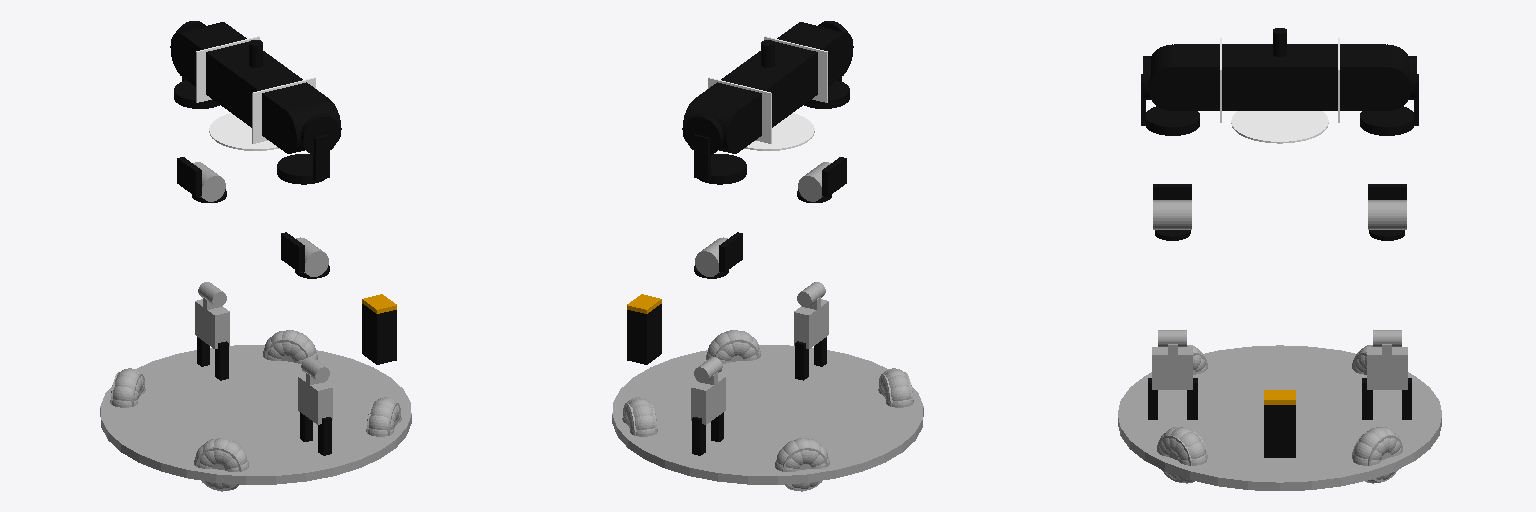
--- Render facts (derived) ---
3 views of the same robot in one strip: view 1: azimuth 30°, elevation 25°; view 2: azimuth 150°, elevation 25°; view 3: azimuth 270°, elevation 25° (orthographic).
Robot: amigo — 113 links, 112 joints (20 revolute, 52 continuous, 1 prismatic, 39 fixed); root link base_link; default pose: every joint at zero.
Visible links, largest first — view 1: base_plate, clavicles, base_laser, shoulder_mount_right, closure_bottom, hand_right, hand_left, upper_arm_top_right, shoulder_link1_right, shoulder_mount_left, elbow_extra_block_left, closure_right (+6 smaller); view 2: base_plate, clavicles, base_laser, shoulder_mount_left, closure_bottom, hand_left, hand_right, upper_arm_top_left, shoulder_link1_left, shoulder_mount_right, elbow_extra_block_right, closure_left (+6 smaller); view 3: base_plate, clavicles, closure_bottom, base_laser, hand_right, hand_left, shoulder_mount_left, shoulder_mount_right, upper_arm_top_right, upper_arm_top_left, elbow_extra_block2_right, elbow_extra_block2_left (+2 smaller).
Boxes of the visible links, x1,y1,x2,y2 form: base_plate: (100,345,411,484); clavicles: (183,24,328,151); base_laser: (362,304,396,364); shoulder_mount_right: (275,99,341,153); closure_bottom: (209,113,279,150); hand_right: (298,375,332,424); hand_left: (195,299,229,348); upper_arm_top_right: (277,154,326,184); shoulder_link1_right: (301,114,339,154); shoulder_mount_left: (170,22,225,78); elbow_extra_block_left: (177,157,201,196); closure_right: (252,77,315,143); base_plate: (612,345,923,484); clavicles: (695,24,840,151); base_laser: (627,304,661,364); shoulder_mount_left: (682,99,749,153); closure_bottom: (744,113,814,150); hand_left: (691,375,725,424); hand_right: (794,299,828,348); upper_arm_top_left: (697,154,746,184); shoulder_link1_left: (684,114,722,154); shoulder_mount_right: (798,22,853,78); elbow_extra_block_right: (822,157,846,196); closure_left: (708,77,771,143); base_plate: (1118,345,1441,490); clavicles: (1174,44,1385,110); closure_bottom: (1231,111,1328,143); base_laser: (1264,405,1295,457); hand_right: (1152,347,1192,389); hand_left: (1367,347,1407,389); shoulder_mount_left: (1364,44,1411,110); shoulder_mount_right: (1148,44,1195,110); upper_arm_top_right: (1146,106,1199,135); upper_arm_top_left: (1360,106,1413,135); elbow_extra_block2_right: (1153,200,1191,229); elbow_extra_block2_left: (1368,200,1406,229).
Bounding box of the posed robot: 0.666 × 0.666 × 0.9615 m (x, y, z).
0 mesh visuals loaded from 9 distinct referenced files (none loaded); not drawn: 13 (reference not matched to a file when rendering).

robot.urdf — amigo:
<?xml version="1.0" ?>
<!-- =================================================================================== -->
<!-- |    This document was autogenerated by xacro from [local-path]/ros/pkgs/tue-ros-pkg/trunk/tue_robot_models/amigo_robot_model/robot.urdf.xacro | -->
<!-- |    EDITING THIS FILE BY HAND IS NOT RECOMMENDED                                 | -->
<!-- =================================================================================== -->
<robot name="amigo" xmlns:controller="http://playerstage.sourceforge.net/gazebo/xmlschema/#controller" xmlns:interface="http://playerstage.sourceforge.net/gazebo/xmlschema/#interface" xmlns:sensor="http://playerstage.sourceforge.net/gazebo/xmlschema/#sensor" xmlns:xacro="http://ros.org/wiki/xacro">
  <!--get plugins -->
  <gazebo>
    <controller:gazebo_ros_time name="gazebo_ros_time" plugin="libgazebo_ros_time.so">
      <alwaysOn>true</alwaysOn>
      <updateRate>1000.0</updateRate>
      <interface:audio name="dummy_gazebo_ros_time_iface_should_not_be_here"/>
    </controller:gazebo_ros_time>
    <controller:gazebo_ros_controller_manager name="gazebo_ros_controller_manager" plugin="libgazebo_ros_controller_manager.so">
      <alwaysOn>true</alwaysOn>
      <updateRate>1000.0</updateRate>
      <interface:audio name="gazebo_ros_controller_manager_dummy_iface"/>
    </controller:gazebo_ros_controller_manager>
    <controller:gazebo_ros_imu name="imu_controller" plugin="libgazebo_ros_imu.so">
      <alwaysOn>true</alwaysOn>
      <updateRate>1000.0</updateRate>
      <bodyName>base_link</bodyName>
      <topicName>body_pose_ground_truth</topicName>
      <xyzOffsets>0.0 0.0 0</xyzOffsets>
      <rpyOffsets>0 0 0</rpyOffsets>
      <interface:position name="imu_position_iface"/>
    </controller:gazebo_ros_imu>
    <controller:gazebo_ros_p3d name="base_controller" plugin="libgazebo_ros_p3d.so">
      <alwaysOn>true</alwaysOn>
      <updateRate>100.0</updateRate>
      <bodyName>base_link</bodyName>
      <topicName>base_pose_ground_truth</topicName>
      <gaussianNoise>0.01</gaussianNoise>
      <frameName>map</frameName>
      <xyzOffsets>25.7 25.7 0</xyzOffsets>
      <!-- initialize odometry for fake localization-->
      <rpyOffsets>0 0 0</rpyOffsets>
      <interface:position name="p3d_base_position"/>
    </controller:gazebo_ros_p3d>
  </gazebo>
  <gazebo reference="base_laser">
    <sensor:ray name="base_ray_sensor">
      <origin>0.0 0.0 0.0</origin>
      <rayCount>683</rayCount>
      <rangeCount>683</rangeCount>
      <laserCount>1</laserCount>
      <displayRays>false</displayRays>
      <minAngle>-135</minAngle>
      <maxAngle> 135</maxAngle>
      <minRange>0.05</minRange>
      <maxRange>10.0</maxRange>
      <resRange>0.01</resRange>
      <updateRate>100.0</updateRate>
      <controller:gazebo_ros_laser name="base_ros_ray_sensor_controller" plugin="libgazebo_ros_laser.so">
        <gaussianNoise>0.005</gaussianNoise>
        <alwaysOn>true</alwaysOn>
        <updateRate>15.0</updateRate>
        <topicName>base_scan</topicName>
        <frameName>/base_laser</frameName>
        <interface:laser name="base_ros_ray_sensor_iface"/>
      </controller:gazebo_ros_laser>
    </sensor:ray>
  </gazebo>
  <gazebo reference="top_laser">
    <sensor:ray name="top_ray_sensor">
      <origin>0.0 0.0 0.0</origin>
      <rayCount>683</rayCount>
      <rangeCount>683</rangeCount>
      <laserCount>1</laserCount>
      <displayRays>false</displayRays>
      <minAngle>-135</minAngle>
      <maxAngle> 135</maxAngle>
      <minRange>0.05</minRange>
      <maxRange>10.0</maxRange>
      <resRange>0.01</resRange>
      <updateRate>100.0</updateRate>
      <controller:gazebo_ros_laser name="top_ros_ray_sensor_controller" plugin="libgazebo_ros_laser.so">
        <gaussianNoise>0.005</gaussianNoise>
        <alwaysOn>true</alwaysOn>
        <updateRate>15.0</updateRate>
        <topicName>top_scan</topicName>
        <frameName>/top_laser</frameName>
        <interface:laser name="top_ros_ray_sensor_iface"/>
      </controller:gazebo_ros_laser>
    </sensor:ray>
  </gazebo>
  <gazebo reference="openni_camera">
    <sensor:camera name="openni_camera">
      <imageFormat>R8G8B8</imageFormat>
      <imageSize>640 480</imageSize>
      <hfov>60</hfov>
      <nearClip>0.05</nearClip>
      <farClip>3</farClip>
      <updateRate>20</updateRate>
      <baseline>0.1</baseline>
      <controller:gazebo_ros_openni_kinect name="kinect_camera_controller" plugin="libgazebo_ros_openni_kinect.so">
        <alwaysOn>true</alwaysOn>
        <updateRate>20</updateRate>
        <imageTopicName>/camera/rgb/image_raw</imageTopicName>
        <pointCloudTopicName>/camera/rgb/points</pointCloudTopicName>
        <cameraInfoTopicName>/camera/rgb/camera_info</cameraInfoTopicName>
        <frameName>/openni_depth_optical_frame</frameName>
        <!--<distortion_k1>0.00000001</distortion_k1>
        <distortion_k2>0.00000001</distortion_k2>
        <distortion_k3>0.00000001</distortion_k3>
        <distortion_t1>0.00000001</distortion_t1>
        <distortion_t2>0.00000001</distortion_t2>-->
      </controller:gazebo_ros_openni_kinect>
    </sensor:camera>
  </gazebo>
  <!--get link & joint definitions -->
  <!--get custom materials -->
  <material name="Blue">
    <color rgba="0.0 0.0 0.8 1.0"/>
  </material>
  <material name="Green">
    <color rgba="0.0 0.8 0.0 1.0"/>
  </material>
  <material name="Grey">
    <color rgba="0.7 0.7 0.7 1.0"/>
  </material>
  <material name="Grey2">
    <color rgba="0.9 0.9 0.9 1.0"/>
  </material>
  <material name="Red">
    <color rgba="0.8 0.0 0.0 1.0"/>
  </material>
  <material name="White">
    <color rgba="1.0 1.0 1.0 1.0"/>
  </material>
  <material name="Black">
    <color rgba="0.1 0.1 0.1 1.0"/>
  </material>
  <material name="LightGrey">
    <color rgba="0.6 0.6 0.6 1.0"/>
  </material>
  <material name="bottomcovers">
    <texture filename="package://amigo_robot_model/Media/materials/textures/bottomcovers/finalreduced.jpg"/>
  </material>
  <material name="white">
    <texture filename="package://amigo_robot_model/Media/materials/textures/white/white.jpg"/>
  </material>
  <material name="logo">
    <texture filename="package://amigo_robot_model/Media/materials/textures/logo/tue.jpg"/>
  </material>
  <material name="aluminum">
    <texture filename="package://amigo_robot_model/Media/materials/textures/aluminum/aluminium_0001_c.jpg"/>
  </material>
  <material name="orange">
    <texture filename="package://amigo_robot_model/Media/materials/textures/orange/orange.jpg"/>
  </material>
  <!--========BUILD BODY======-->
  <link name="base">
    <inertial>
      <origin rpy="0 0 0" xyz="0.0 0.0 0.3275"/>
      <mass value="20"/>
      <inertia ixx="2.63" ixy="0" ixz="0" iyy="2.63" iyz="0" izz="2.4"/>
    </inertial>
    <visual>
      <origin rpy="0 0 -1.5708" xyz="0.0 0.0 0.23"/>
      <geometry>
        <mesh filename="package://amigo_robot_model/body/bottomcovers.dae" scale="0.001 0.001 0.001"/>
      </geometry>
      <material name="bottomcovers"/>
    </visual>
    <collision>
      <origin rpy="0 0 -1.5708" xyz="0.0 0.0 0.33"/>
      <geometry>
        <box size="0.275 0.275 0.6"/>
      </geometry>
    </collision>
  </link>
  <gazebo reference="base">
    <material>amigo_robot_model/bottomcovers</material>
    <turnGravityOff>false</turnGravityOff>
  </gazebo>
  <link name="torso_slider">
    <inertial>
      <origin rpy="0 0 0" xyz="0 0 0"/>
      <mass value="0.1"/>
      <inertia ixx="0.01" ixy="0" ixz="0" iyy="0.01" iyz="0" izz="0.01"/>
    </inertial>
    <visual>
      <origin rpy="0 1.5708 0" xyz="-0.35 0.0 0.0"/>
      <geometry>
        <mesh filename="package://amigo_robot_model/body/torsoslidertextured.dae" scale="0.01 0.01 0.01"/>
      </geometry>
      <material name="aluminum"/>
    </visual>
    <collision>
      <origin rpy="0 1.5708 0" xyz="-0.35 0.0 0.0"/>
      <geometry>
        <mesh filename="package://amigo_robot_model/body/torsoslidertextured.dae" scale="0.01 0.01 0.01"/>
      </geometry>
    </collision>
  </link>
  <gazebo reference="torso_slider">
    <material>amigo_robot_model/aluminum</material>
    <turnGravityOff>false</turnGravityOff>
  </gazebo>
  <link name="base_link">
    <inertial>
      <origin rpy="0 0 0" xyz="0.0 0.0 0.0"/>
      <mass value="0"/>
      <inertia ixx="0" ixy="0" ixz="0" iyy="0" iyz="0" izz="0"/>
    </inertial>
    <visual>
      <origin rpy="0 0 0" xyz="0.0 0.0 0.0"/>
      <geometry>
        <cylinder length="0.00" radius="0.0"/>
      </geometry>
      <material name="Red">
     </material>
    </visual>
    <collision>
      <origin rpy="0 0 0" xyz="0.0 0.0 0.0"/>
      <geometry>
        <cylinder length="0.00" radius="0.0"/>
      </geometry>
    </collision>
  </link>
  <gazebo reference="base_link">
    <material>Gazebo/Red</material>
    <turnGravityOff>false</turnGravityOff>
  </gazebo>
  <link name="batterycovercollision_left">
    <inertial>
      <origin xyz="0.0 0.0 0.0"/>
      <mass value="0.001"/>
      <inertia ixx="0.01" ixy="0" ixz="0" iyy="0.01" iyz="0" izz="0.01"/>
    </inertial>
    <visual>
      <origin xyz="0.0 0.0 0.0"/>
      <geometry>
        <box size="0.0 0.0 0.0"/>
      </geometry>
    </visual>
    <collision>
      <origin xyz="0.0 0.0 0.0"/>
      <geometry>
        <box size="0.25 0.15 0.125"/>
      </geometry>
    </collision>
  </link>
  <joint name="batterycovercollision_left_joint" type="fixed">
    <parent link="base"/>
    <child link="batterycovercollision_left"/>
    <axis xyz="1 0 0"/>
    <origin rpy="0 0 0" xyz="0.0 0.25 0.1"/>
  </joint>
  <link name="batterycovercollision_right">
    <inertial>
      <origin xyz="0.0 0.0 0.0"/>
      <mass value="0.001"/>
      <inertia ixx="0.01" ixy="0" ixz="0" iyy="0.01" iyz="0" izz="0.01"/>
    </inertial>
    <visual>
      <origin xyz="0.0 0.0 0.0"/>
      <geometry>
        <box size="0.0 0.0 0.0"/>
      </geometry>
    </visual>
    <collision>
      <origin xyz="0.0 0.0 0.0"/>
      <geometry>
        <box size="0.25 0.15 0.125"/>
      </geometry>
    </collision>
  </link>
  <joint name="batterycovercollision_right_joint" type="fixed">
    <parent link="base"/>
    <child link="batterycovercollision_right"/>
    <axis xyz="1 0 0"/>
    <origin rpy="0 0 0" xyz="0.0 -0.25 0.1"/>
  </joint>
  <link name="batterycovercollision_back">
    <inertial>
      <origin xyz="0.0 0.0 0.0"/>
      <mass value="0.001"/>
      <inertia ixx="0.01" ixy="0" ixz="0" iyy="0.01" iyz="0" izz="0.01"/>
    </inertial>
    <visual>
      <origin xyz="0.0 0.0 0.0"/>
      <geometry>
        <box size="0.0 0.0 0.0"/>
      </geometry>
    </visual>
    <collision>
      <origin xyz="0.0 0.0 0.0"/>
      <geometry>
        <box size="0.25 0.15 0.175"/>
      </geometry>
    </collision>
  </link>
  <joint name="batterycovercollision_back_joint" type="fixed">
    <parent link="base"/>
    <child link="batterycovercollision_back"/>
    <axis xyz="1 0 0"/>
    <origin rpy="0 0 1.5708" xyz="-0.25 0.0 0.125"/>
  </joint>
  <link name="torso">
    <inertial>
      <origin rpy="0 0 0" xyz="0.0 0.0 0.0"/>
      <mass value="16"/>
      <inertia ixx="0.01" ixy="0" ixz="0" iyy="0.01" iyz="0" izz="0.01"/>
    </inertial>
    <visual>
      <origin rpy="-1.5708 0 -1.5708" xyz="0.045 0.0 0.06"/>
      <geometry>
        <mesh filename="package://amigo_robot_model/body/torsocovers.dae" scale="0.001 0.001 0.001"/>
      </geometry>
      <material name="white"/>
    </visual>
    <collision>
      <origin rpy="-1.5708 0 -1.5708" xyz="0.045 0.0 0.06"/>
      <geometry>
        <mesh filename="package://amigo_robot_model/body/torsocovers.dae" scale="0.001 0.001 0.001"/>
      </geometry>
    </collision>
  </link>
  <gazebo reference="torso">
    <material>amigo_robot_model/white</material>
    <turnGravityOff>false</turnGravityOff>
  </gazebo>
  <joint name="spindle_joint" type="prismatic">
    <parent link="base"/>
    <child link="torso_slider"/>
    <axis xyz="1 0 0"/>
    <origin rpy="3.14159265 -1.5708 0" xyz="0.0 0.0 0.58"/>
    <dynamics damping="3" friction="0.0"/>
    <!--*-->
    <limit effort="30" lower="0.0" upper="0.41" velocity="1.0"/>
    <!--*-->
  </joint>
  <joint name="base_link_joint" type="fixed">
    <parent link="base_link"/>
    <child link="base"/>
    <axis xyz="1 0 0"/>
    <origin rpy="0 0 0" xyz="0.0 0.0 0.055"/>
  </joint>
  <joint name="torso_slider_joint" type="fixed">
    <parent link="torso_slider"/>
    <child link="torso"/>
    <axis xyz="1 0 0"/>
    <origin rpy="0 0 0" xyz="0.135 0.0 0.0"/>
  </joint>
  <!--extra body visuals-->
  <link name="base_plate">
    <inertial>
      <origin rpy="0 0 0" xyz="0.0 0.0 0.0"/>
      <mass value="0.1"/>
      <inertia ixx="0.01" ixy="0" ixz="0" iyy="0.01" iyz="0" izz="0.01"/>
    </inertial>
    <visual>
      <origin rpy="0 0 0" xyz="0.0 0.0 0.0"/>
      <geometry>
        <cylinder length="0.02" radius="0.333"/>
      </geometry>
      <material name="aluminum">
     </material>
    </visual>
    <collision>
      <origin rpy="0 0 0" xyz="0.0 0.0 0.0"/>
      <geometry>
        <cylinder length="0.02" radius="0.333"/>
      </geometry>
    </collision>
  </link>
  <gazebo reference="base_plate">
    <material>amigo_robot_model/aluminum</material>
    <turnGravityOff>false</turnGravityOff>
  </gazebo>
  <joint name="base_plate_joint" type="fixed">
    <parent link="base_link"/>
    <child link="base_plate"/>
    <axis xyz="1 0 0"/>
    <origin rpy="0 0 0" xyz="0.0 0.0 0.05"/>
  </joint>
  <link name="torso_assist_slider_right">
    <inertial>
      <origin rpy="0 0 0" xyz="0 0 0"/>
      <mass value="0.01"/>
      <inertia ixx="0.01" ixy="0" ixz="0" iyy="0.01" iyz="0" izz="0.01"/>
    </inertial>
    <visual>
      <origin rpy="0 1.5708 0" xyz="-0.4  0.0 0.0"/>
      <geometry>
        <mesh filename="package://amigo_robot_model/body_extra_visuals/torsoassistslidertextured.dae" scale="0.01 0.01 0.0125"/>
      </geometry>
      <material name="aluminum"/>
    </visual>
    <collision>
      <origin rpy="0 1.5708 0" xyz="-0.4  0.0 0.0"/>
      <geometry>
        <mesh filename="package://amigo_robot_model/body_extra_visuals/torsoassistslidertextured.dae" scale="0.01 0.01 0.0125"/>
      </geometry>
    </collision>
  </link>
  <gazebo reference="torso_assist_slider_right">
    <material>amigo_robot_model/aluminum</material>
    <turnGravityOff>false</turnGravityOff>
  </gazebo>
  <link name="torso_assist_slider_left">
    <inertial>
      <origin rpy="0 0 0" xyz="0 0 0"/>
      <mass value="0.01"/>
      <inertia ixx="0.01" ixy="0" ixz="0" iyy="0.01" iyz="0" izz="0.01"/>
    </inertial>
    <visual>
      <origin rpy="0 1.5708 0" xyz="-0.4  0.0 0.0"/>
      <geometry>
        <mesh filename="package://amigo_robot_model/body_extra_visuals/torsoassistslidertextured.dae" scale="0.01 0.01 0.0125"/>
      </geometry>
      <material name="aluminum"/>
    </visual>
    <collision>
      <origin rpy="0 1.5708 0" xyz="-0.4  0.0 0.0"/>
      <geometry>
        <mesh filename="package://amigo_robot_model/body_extra_visuals/torsoassistslidertextured.dae" scale="0.01 0.01 0.0125"/>
      </geometry>
    </collision>
  </link>
  <gazebo reference="torso_assist_slider_left">
    <material>amigo_robot_model/aluminum</material>
    <turnGravityOff>false</turnGravityOff>
  </gazebo>
  <link name="torso_assist_slider_back">
    <inertial>
      <origin rpy="0 0 0" xyz="0 0 0"/>
      <mass value="0.01"/>
      <inertia ixx="0.01" ixy="0" ixz="0" iyy="0.01" iyz="0" izz="0.01"/>
    </inertial>
    <visual>
      <origin rpy="0 1.5708 0" xyz="-0.4 0.0 0.0"/>
      <geometry>
        <mesh filename="package://amigo_robot_model/body_extra_visuals/torsoassistslidertextured.dae" scale="0.01 0.01 0.0125"/>
      </geometry>
      <material name="aluminum"/>
    </visual>
    <collision>
      <origin rpy="0 1.5708 0" xyz="-0.4 0.0 0.0"/>
      <geometry>
        <mesh filename="package://amigo_robot_model/body_extra_visuals/torsoassistslidertextured.dae" scale="0.01 0.01 0.0125"/>
      </geometry>
    </collision>
  </link>
  <gazebo reference="torso_assist_slider_back">
    <material>amigo_robot_model/aluminum</material>
    <turnGravityOff>false</turnGravityOff>
  </gazebo>
  <joint name="torso_slider_assist_joint_right" type="fixed">
    <parent link="torso"/>
    <child link="torso_assist_slider_right"/>
    <origin rpy="0 0 0" xyz="-0.3 0.1 0.0"/>
  </joint>
  <joint name="torso_slider_assist_joint_left" type="fixed">
    <parent link="torso"/>
    <child link="torso_assist_slider_left"/>
    <origin rpy="0 0 0" xyz="-0.3 -0.1 0.0"/>
  </joint>
  <joint name="torso_slider_assist_joint_back" type="fixed">
    <parent link="torso"/>
    <child link="torso_assist_slider_back"/>
    <origin rpy="1.5708 0 0" xyz="-0.3 0.0 -0.1"/>
  </joint>
  <link name="clavicles">
    <inertial>
      <origin rpy="0 0 0" xyz="0 0 0"/>
      <mass value="0.01"/>
      <inertia ixx="0.01" ixy="0" ixz="0" iyy="0.01" iyz="0" izz="0.01"/>
    </inertial>
    <visual>
      <origin rpy="0 0 0" xyz="0.0 0.0 0.0"/>
      <geometry>
        <box size="0.1 0.436 0.11"/>
      </geometry>
      <material name="Black">
     </material>
    </visual>
    <collision>
      <origin rpy="0 0 0" xyz="0.0 0.0 0.0"/>
      <geometry>
        <box size="0.1 0.436 0.11"/>
      </geometry>
    </collision>
  </link>
  <gazebo reference="clavicles">
    <material>Gazebo/Black</material>
    <turnGravityOff>false</turnGravityOff>
  </gazebo>
  <joint name="clavicle_joint" type="fixed">
    <parent link="torso"/>
    <child link="clavicles"/>
    <origin rpy="0 0 0" xyz="0.05 0.0 0.0"/>
  </joint>
  <link name="closure_right">
    <inertial>
      <origin rpy="0 0 0" xyz="0 0 0"/>
      <mass value="0.01"/>
      <inertia ixx="0.01" ixy="0" ixz="0" iyy="0.01" iyz="0" izz="0.01"/>
    </inertial>
    <visual>
      <origin rpy="0 0 0" xyz="0.0 0.0 0.0"/>
      <geometry>
        <box size="0.12 0.004 0.155"/>
      </geometry>
      <material name="White">
     </material>
    </visual>
    <collision>
      <origin rpy="0 0 0" xyz="0.0 0.0 0.0"/>
      <geometry>
        <box size="0.12 0.004 0.155"/>
      </geometry>
    </collision>
  </link>
  <gazebo reference="closure_right">
    <material>Gazebo/White</material>
    <turnGravityOff>false</turnGravityOff>
  </gazebo>
  <joint name="closure_right_joint" type="fixed">
    <parent link="torso"/>
    <child link="closure_right"/>
    <origin rpy="0 0 0" xyz="0.045 0.12 0.0"/>
  </joint>
  <link name="closure_left">
    <inertial>
      <origin rpy="0 0 0" xyz="0 0 0"/>
      <mass value="0.01"/>
      <inertia ixx="0.01" ixy="0" ixz="0" iyy="0.01" iyz="0" izz="0.01"/>
    </inertial>
    <visual>
      <origin rpy="0 0 0" xyz="0.0 0.0 0.0"/>
      <geometry>
        <box size="0.12 0.004 0.155"/>
      </geometry>
      <material name="White">
     </material>
    </visual>
    <collision>
      <origin rpy="0 0 0" xyz="0.0 0.0 0.0"/>
      <geometry>
        <box size="0.12 0.004 0.155"/>
      </geometry>
    </collision>
  </link>
  <gazebo reference="closure_left">
    <material>Gazebo/White</material>
    <turnGravityOff>false</turnGravityOff>
  </gazebo>
  <joint name="closure_left_joint" type="fixed">
    <parent link="torso"/>
    <child link="closure_left"/>
    <origin rpy="0 0 0" xyz="0.045 -0.12 0.0"/>
  </joint>
  <link name="closure_bottom">
    <inertial>
      <origin rpy="0 0 0" xyz="0 0 0"/>
      <mass value="0.01"/>
      <inertia ixx="0.01" ixy="0" ixz="0" iyy="0.01" iyz="0" izz="0.01"/>
    </inertial>
    <visual>
      <origin rpy="0 0 0" xyz="0.0 0.0 0.0"/>
      <geometry>
        <cylinder length="0.004" radius="0.1"/>
      </geometry>
      <material name="White">
     </material>
    </visual>
    <collision>
      <origin rpy="0 0 0" xyz="0.0 0.0 0.0"/>
      <geometry>
        <cylinder length="0.004" radius="0.1"/>
      </geometry>
    </collision>
  </link>
  <gazebo reference="closure_bottom">
    <material>Gazebo/White</material>
    <turnGravityOff>false</turnGravityOff>
  </gazebo>
  <joint name="closure_bottom_joint" type="fixed">
    <parent link="torso"/>
    <child link="closure_bottom"/>
    <origin rpy="0 1.5708 0" xyz="-0.05 0.0 0.0"/>
  </joint>
  <!--========BUILD LASER======-->
  <link name="base_laser">
    <inertial>
      <origin rpy="0 0 0" xyz="0.0 0.0 0.0"/>
      <mass value="0.5"/>
      <inertia ixx="0.0001" ixy="0" ixz="0" iyy="0.0001" iyz="0" izz="0.0001"/>
    </inertial>
    <visual>
      <origin rpy="0 0 0" xyz="-0.005 0.0 -0.065"/>
      <geometry>
        <box size="0.05 0.065 0.12"/>
      </geometry>
      <material name="Black">
     </material>
    </visual>
    <collision>
      <origin rpy="0 0 0" xyz="-0.005 0.0 -0.065"/>
      <geometry>
        <box size="0.05 0.065 0.12"/>
      </geometry>
    </collision>
  </link>
  <gazebo reference="base_laser">
    <material>Gazebo/Black</material>
    <turnGravityOff>false</turnGravityOff>
  </gazebo>
  <joint name="base_laser_joint" type="fixed">
    <parent link="base"/>
    <child link="base_laser"/>
    <origin rpy="0 0 0" xyz="0.31 0.0 0.185"/>
    <axis xyz="0 1 0"/>
    <dynamics damping="0.1" friction="0"/>
    <limit effort="13.4" lower="-0.7809" upper="1.5708" velocity="1.0"/>
  </joint>
  <link name="lasertop">
    <inertial>
      <origin rpy="0 0 0" xyz="0.0 0.0 0.0"/>
      <mass value="0.01"/>
      <inertia ixx="0.0001" ixy="0" ixz="0" iyy="0.0001" iyz="0" izz="0.0001"/>
    </inertial>
    <visual>
      <origin rpy="0 0 0" xyz="-0.005 0.0 0.0"/>
      <geometry>
        <box size="0.05 0.065 0.01"/>
      </geometry>
      <material name="orange">
     </material>
    </visual>
    <collision>
      <origin rpy="0 0 0" xyz="-0.005 0.0 0.0"/>
      <geometry>
        <box size="0.05 0.065 0.01"/>
      </geometry>
    </collision>
  </link>
  <gazebo reference="lasertop">
    <material>amigo_robot_model/orange</material>
    <turnGravityOff>false</turnGravityOff>
  </gazebo>
  <joint name="lasertop_joint" type="fixed">
    <parent link="base_laser"/>
    <child link="lasertop"/>
  </joint>
  <link name="logo">
    <inertial>
      <origin rpy="0 0 0" xyz="0.0 0.0 0.0"/>
      <mass value="0.01"/>
      <inertia ixx="0.0001" ixy="0" ixz="0" iyy="0.0001" iyz="0" izz="0.0001"/>
    </inertial>
    <visual>
      <origin rpy="0 0 3.1415" xyz="0.025 0.0 -0.165"/>
      <geometry>
        <mesh filename="package://amigo_robot_model/laser/logo.dae" scale="0.004 0.004 0.004"/>
      </geometry>
      <material name="logo"/>
    </visual>
    <collision>
      <origin rpy="0 0 3.1415" xyz="0.025 0.0 -0.165"/>
      <geometry>
        <mesh filename="package://amigo_robot_model/laser/logo.dae" scale="0.004 0.004 0.004"/>
      </geometry>
    </collision>
  </link>
  <gazebo reference="logo">
    <material>amigo_robot_model/logo</material>
    <turnGravityOff>false</turnGravityOff>
  </gazebo>
  <joint name="logo_joint" type="fixed">
    <parent link="base_laser"/>
    <child link="logo"/>
  </joint>
  <!--========BUILD HEAD======-->
  <link name="head_mount">
    <inertial>
      <origin rpy="0 0 0" xyz="0.0 0.0 0.0"/>
      <mass value="0.05"/>
      <inertia ixx="0.0001" ixy="0" ixz="0" iyy="0.0001" iyz="0" izz="0.0001"/>
    </inertial>
    <visual>
      <origin rpy="0 0 0" xyz="0.0 0.0 0.0"/>
      <geometry>
        <box size="0.01 0.01  0.01 "/>
      </geometry>
      <material name="Blue">
     </material>
    </visual>
    <collision>
      <origin rpy="0 0 0" xyz="0.0 0.0 0.0"/>
      <geometry>
        <box size="0.01 0.01  0.01 "/>
      </geometry>
    </collision>
  </link>
  <gazebo reference="head_mount">
    <material>Gazebo/Blue</material>
    <turnGravityOff>false</turnGravityOff>
  </gazebo>
  <link name="neck_pan">
    <inertial>
      <origin rpy="0 0 0" xyz="0.0 0.0 0.0335"/>
      <mass value="0.05"/>
      <inertia ixx="0.0001" ixy="0" ixz="0" iyy="0.0001" iyz="0" izz="0.0001"/>
    </inertial>
    <visual>
      <origin rpy="0 0 0" xyz="0.0 0.0 0.0335"/>
      <geometry>
        <cylinder length="0.0525" radius="0.015"/>
      </geometry>
      <material name="Black">
     </material>
    </visual>
    <collision>
      <origin rpy="0 0 0" xyz="0.0 0.0 0.0335"/>
      <geometry>
        <cylinder length="0.0525" radius="0.015"/>
      </geometry>
    </collision>
  </link>
  <gazebo reference="neck_pan">
    <material>Gazebo/Black</material>
    <turnGravityOff>false</turnGravityOff>
  </gazebo>
  <link name="neck_tilt">
    <inertial>
      <origin rpy="0 0 0" xyz="0.0 -0.0 0.0285"/>
      <mass value="0.05"/>
      <inertia ixx="0.001" ixy="0" ixz="0" iyy="0.001" iyz="0" izz="0.001"/>
    </inertial>
    <visual>
      <origin rpy="0 0 0" xyz="0.0 -0.0 0.015"/>
      <geometry>
        <mesh filename="package://amigo_robot_model/head/necktilttextured.dae" scale="0.01 0.01 0.01"/>
      </geometry>
      <material name="aluminum"/>
    </visual>
    <collision>
      <origin rpy="0 0 0" xyz="0.0 -0.0 0.015"/>
      <geometry>
        <mesh filename="package://amigo_robot_model/head/necktilttextured.dae" scale="0.01 0.01 0.01"/>
      </geometry>
    </collision>
  </link>
  <gazebo reference="neck_tilt">
    <material>amigo_robot_model/aluminum</material>
    <turnGravityOff>false</turnGravityOff>
  </gazebo>
  <link name="head">
    <inertial>
      <origin rpy="0 0 0" xyz="0 0 0"/>
      <mass value="0"/>
      <inertia ixx="0" ixy="0" ixz="0" iyy="0" iyz="0" izz="0"/>
    </inertial>
    <visual>
      <origin rpy="0 0 -1.5708" xyz="0.0 0.0 0.1"/>
      <geometry>
        <mesh filename="package://amigo_robot_model/head/headtextured.dae" scale="0.001 0.001 0.001"/>
      </geometry>
      <material name="white"/>
    </visual>
    <collision>
      <origin rpy="0 0 -1.5708" xyz="0.0 0.0 0.1"/>
      <geometry>
        <mesh filename="package://amigo_robot_model/head/headtextured.dae" scale="0.001 0.001 0.001"/>
      </geometry>
    </collision>
  </link>
  <gazebo reference="head">
    <material>amigo_robot_model/white</material>
    <turnGravityOff>false</turnGravityOff>
  </gazebo>
  <joint name="head_mount_joint" type="fixed">
    <parent link="torso"/>
    <child link="head_mount"/>
    <axis xyz="0 0 1"/>
    <origin rpy="  0.0 0.0 0.0" xyz="0.097 0.0 0.0"/>
  </joint>
  <joint name="head_joint" type="fixed">
    <parent link="neck_tilt"/>
    <child link="head"/>
  </joint>
  <joint name="neck_pan_joint" type="revolute">
    <parent link="head_mount"/>
    <child link="neck_pan"/>
    <origin rpy="3.14 -1.5708 0.0" xyz="0.0 0.0 0.0"/>
    <axis xyz="0 0 1"/>
    <dynamics damping="0.1" friction="0"/>
    <limit effort="13.4" lower="-1.5708" upper="1.5708" velocity="1.0"/>
  </joint>
  <joint name="neck_tilt_joint" type="revolute">
    <parent link="neck_pan"/>
    <child link="neck_tilt"/>
    <origin rpy="0.0 0.0 0.0" xyz="0.0 0.0 0.0445"/>
    <axis xyz="0 1 0"/>
    <dynamics damping="0.1" friction="0.0"/>
    <limit effort="13.4" lower="-2.0" upper="2.0" velocity="1.0"/>
  </joint>
  <!--========BUILD KINECT======-->
  <joint name="base_kinect_joint" type="fixed">
    <origin rpy="0 0 0" xyz="0.025 0 0.05"/>
    <!-- THESE VALUES ARE ROUGH ESTIMATES!! -->
    <parent link="head"/>
    <child link="openni_camera"/>
  </joint>
  <link name="openni_camera">
    <inertial>
      <mass value="0.01"/>
      <origin xyz="0 0 0"/>
      <inertia ixx="0.001" ixy="0.0" ixz="0.0" iyy="0.001" iyz="0.0" izz="0.001"/>
    </inertial>
    <visual>
      <origin rpy="0 0 0" xyz=" 0 0 0 "/>
      <geometry>
        <box size="0 0 0"/>
        <!--mesh filename="package://amigo_robot_model/kinect/meshes/kinect.dae" scale="0.001 0.001 0.001"/-->
        <!--<mesh filename="package://amigo_robot_model/kinect/meshes/kinect_without_base.dae"/>-->
      </geometry>
    </visual>
    <!--<collision>
      <origin xyz="-0.0365 0.0 0.0" rpy="0 0 0" />
      <geometry>
        <box size="0.0730 .2760 0.0720"/>
      </geometry>
    </collision>-->
  </link>
  <joint name="kinect_depth_joint" type="fixed">
    <origin rpy="0 0 0" xyz="0 0.018 0"/>
    <parent link="openni_camera"/>
    <child link="openni_depth_frame"/>
  </joint>
  <link name="openni_depth_frame">
    <inertial>
      <mass value="0.01"/>
      <origin xyz="0 0 0"/>
      <inertia ixx="0.001" ixy="0.0" ixz="0.0" iyy="0.001" iyz="0.0" izz="0.001"/>
    </inertial>
  </link>
  <joint name="kinect_depth_optical_joint" type="fixed">
    <origin rpy="-1.570795 0 -1.570795" xyz="0 0 0"/>
    <parent link="openni_depth_frame"/>
    <child link="openni_depth_optical_frame"/>
  </joint>
  <link name="openni_depth_optical_frame">
    <inertial>
      <mass value="0.001"/>
      <origin xyz="0 0 0"/>
      <inertia ixx="0.0001" ixy="0.0" ixz="0.0" iyy="0.0001" iyz="0.0" izz="0.0001"/>
    </inertial>
  </link>
  <joint name="kinect_rgb_joint" type="fixed">
    <origin rpy="0 0 0" xyz="0 -0.005 0"/>
    <parent link="openni_camera"/>
    <child link="openni_rgb_frame"/>
  </joint>
  <link name="openni_rgb_frame">
    <inertial>
      <mass value="0.001"/>
      <origin xyz="0 0 0"/>
      <inertia ixx="0.0001" ixy="0.0" ixz="0.0" iyy="0.0001" iyz="0.0" izz="0.0001"/>
    </inertial>
  </link>
  <joint name="kinect_rgb_optical_joint" type="fixed">
    <origin rpy="-1.570795 0 -1.570795" xyz="0 0 0"/>
    <parent link="openni_rgb_frame"/>
    <child link="openni_rgb_optical_frame"/>
  </joint>
  <link name="openni_rgb_optical_frame">
    <inertial>
      <mass value="0.001"/>
      <origin xyz="0 0 0"/>
      <inertia ixx="0.0001" ixy="0.0" ixz="0.0" iyy="0.0001" iyz="0.0" izz="0.0001"/>
    </inertial>
  </link>
  <!--========BUILD ARMS======-->
  <link name="shoulder_mount_right">
    <inertial>
      <origin rpy="0 0 0" xyz="0.0 0.0 0.0"/>
      <mass value="0.1"/>
      <inertia ixx="0.01" ixy="0" ixz="0" iyy="0.01" iyz="0" izz="0.01"/>
    </inertial>
    <visual>
      <origin rpy="0 0 0 " xyz="0.0 0.0 0.0"/>
      <geometry>
        <cylinder length="0.11" radius="0.05"/>
      </geometry>
      <material name="Black">
     </material>
    </visual>
    <collision>
      <origin rpy="0 0 0 " xyz="0.0 0.0 0.0"/>
      <geometry>
        <cylinder length="0.11" radius="0.05"/>
      </geometry>
    </collision>
  </link>
  <gazebo reference="shoulder_mount_right">
    <material>Gazebo/Black</material>
    <turnGravityOff>false</turnGravityOff>
  </gazebo>
  <link name="shoulder_link1_right">
    <inertial>
      <origin rpy="0 0 0" xyz="0.0 0.0 0.0"/>
      <mass value="0.1"/>
      <inertia ixx="0.01" ixy="0" ixz="0" iyy="0.01" iyz="0" izz="0.01"/>
    </inertial>
    <visual>
      <origin rpy="0 0 0 " xyz="0.0 0.0 0.0525"/>
      <geometry>
        <cylinder length="0.015" radius="0.045"/>
      </geometry>
      <material name="Black">
     </material>
    </visual>
    <collision>
      <origin rpy="0 0 0 " xyz="0.0 0.0 0.0525"/>
      <geometry>
        <cylinder length="0.015" radius="0.045"/>
      </geometry>
    </collision>
  </link>
  <gazebo reference="shoulder_link1_right">
    <material>Gazebo/Black</material>
    <turnGravityOff>false</turnGravityOff>
  </gazebo>
  <link name="shoulder_link2_right">
    <inertial>
      <origin rpy="0 0 0" xyz="0.0 0.0 0.0"/>
      <mass value="0.1"/>
      <inertia ixx="0.001" ixy="0" ixz="0" iyy="0.001" iyz="0" izz="0.001"/>
    </inertial>
    <visual>
      <origin rpy="0 0 0" xyz="0.0 -0.06 -0.05"/>
      <geometry>
        <box size="0.035 0.01 0.1"/>
      </geometry>
      <material name="Black">
     </material>
    </visual>
    <collision>
      <origin rpy="0 0 0" xyz="0.0 -0.06 -0.05"/>
      <geometry>
        <box size="0.035 0.01 0.1"/>
      </geometry>
    </collision>
  </link>
  <gazebo reference="shoulder_link2_right">
    <material>Gazebo/Black</material>
    <turnGravityOff>false</turnGravityOff>
  </gazebo>
  <link name="upper_arm_right">
    <inertial>
      <origin rpy="0 0 0" xyz="0.0 -0.2 0.0"/>
      <mass value="2.9"/>
      <inertia ixx="0.027" ixy="0" ixz="0" iyy="0.027" iyz="0" izz="0.004"/>
    </inertial>
    <visual>
      <origin rpy="0 0 3.1415" xyz="-0.00959 -0.19131 -0.00001"/>
      <geometry>
        <mesh filename="package://amigo_robot_model/arms_DH/upperarmtextured.dae" scale="0.001 0.001 0.001"/>
      </geometry>
      <material name="white"/>
    </visual>
    <collision>
      <origin rpy="0 0 3.1415" xyz="-0.00959 -0.19131 -0.00001"/>
      <geometry>
        <mesh filename="package://amigo_robot_model/arms_DH/upperarmtextured.dae" scale="0.001 0.001 0.001"/>
      </geometry>
    </collision>
  </link>
  <gazebo reference="upper_arm_right">
    <material>amigo_robot_model/white</material>
    <turnGravityOff>false</turnGravityOff>
  </gazebo>
  <link name="elbow_link4_right">
    <inertial>
      <origin rpy="0 0 0" xyz="0.0 0.0 0.0"/>
      <mass value="0.1"/>
      <inertia ixx="0.001" ixy="0" ixz="0" iyy="0.001" iyz="0" izz="0.001"/>
    </inertial>
    <visual>
      <origin rpy="0 0 0" xyz="0.0 0.0 0.0"/>
      <geometry>
        <cylinder length="0.0" radius="0.0"/>
      </geometry>
      <material name="Grey">
     </material>
    </visual>
    <collision>
      <origin rpy="0 0 0" xyz="0.0 0.0 0.0"/>
      <geometry>
        <cylinder length="0.0" radius="0.0"/>
      </geometry>
    </collision>
  </link>
  <gazebo reference="elbow_link4_right">
    <material>Gazebo/Grey</material>
    <turnGravityOff>false</turnGravityOff>
  </gazebo>
  <link name="fore_arm_right">
    <inertial>
      <origin rpy="0.0 0 0" xyz="0.0 -0.14 0.0"/>
      <mass value="0.1"/>
      <inertia ixx="0.0054" ixy="0" ixz="0" iyy="0.0054" iyz="0" izz="0.0004"/>
    </inertial>
    <visual>
      <origin rpy="0 -1.5708 0" xyz="0.00425 -0.14868 0.00547"/>
      <geometry>
        <mesh filename="package://amigo_robot_model/arms_DH/forearmtextured.dae" scale="0.001 0.001 0.001"/>
      </geometry>
      <material name="white"/>
    </visual>
    <collision>
      <origin rpy="0 -1.5708 0" xyz="0.00425 -0.14868 0.00547"/>
      <geometry>
        <mesh filename="package://amigo_robot_model/arms_DH/forearmtextured.dae" scale="0.001 0.001 0.001"/>
      </geometry>
    </collision>
  </link>
  <gazebo reference="fore_arm_right">
    <material>amigo_robot_model/white</material>
    <turnGravityOff>false</turnGravityOff>
  </gazebo>
  <link name="wrist_link6_right">
    <inertial>
      <origin rpy="0 0 0" xyz="0.0 0.0 0.0"/>
      <mass value="0.01"/>
      <inertia ixx="0.001" ixy="0" ixz="0" iyy="0.001" iyz="0" izz="0.001"/>
    </inertial>
    <visual>
      <origin rpy="1.5708 0 0" xyz="0.0 0.0 0.0"/>
      <geometry>
        <cylinder length="0.0" radius="0.0"/>
      </geometry>
      <material name="Black">
     </material>
    </visual>
    <collision>
      <origin rpy="1.5708 0 0" xyz="0.0 0.0 0.0"/>
      <geometry>
        <cylinder length="0.0" radius="0.0"/>
      </geometry>
    </collision>
  </link>
  <gazebo reference="wrist_link6_right">
    <material>Gazebo/Black</material>
    <turnGravityOff>false</turnGravityOff>
  </gazebo>
  <link name="hand_right">
    <inertial>
      <origin rpy="0 0 0" xyz="0.048 0.0 0.0"/>
      <mass value="0.2"/>
      <inertia ixx="0.01" ixy="0" ixz="0" iyy="0.01" iyz="0" izz="0.01"/>
    </inertial>
    <visual>
      <origin rpy="0 0 0" xyz="0.048 0.0 0.0"/>
      <geometry>
        <box size="0.080 0.085 0.038"/>
      </geometry>
      <material name="Grey">
     </material>
    </visual>
    <collision>
      <origin rpy="0 0 0" xyz="0.048 0.0 0.0"/>
      <geometry>
        <box size="0.080 0.085 0.038"/>
      </geometry>
    </collision>
  </link>
  <gazebo reference="hand_right">
    <material>Gazebo/Grey</material>
    <turnGravityOff>false</turnGravityOff>
  </gazebo>
  <link name="finger1_right">
    <inertial>
      <origin rpy="0 0 0" xyz="0.0 0.0 -0.055"/>
      <mass value="0.05"/>
      <inertia ixx="0.00037" ixy="0" ixz="0" iyy="0.00052" iyz="0" izz="0.00052"/>
    </inertial>
    <visual>
      <origin rpy="0 0 0" xyz="0.0 0.0 -0.055"/>
      <geometry>
        <box size="0.02 0.022 0.11"/>
      </geometry>
      <material name="Black">
     </material>
    </visual>
    <collision>
      <origin rpy="0 0 0" xyz="0.0 0.0 -0.055"/>
      <geometry>
        <box size="0.02 0.022 0.11"/>
      </geometry>
    </collision>
  </link>
  <gazebo reference="finger1_right">
    <material>Gazebo/Black</material>
    <turnGravityOff>false</turnGravityOff>
  </gazebo>
  <link name="finger2_right">
    <inertial>
      <origin rpy="0 0 0" xyz="0.0 0.0 -0.055"/>
      <mass value="0.05"/>
      <inertia ixx="0.00037" ixy="0" ixz="0" iyy="0.00052" iyz="0" izz="0.00052"/>
    </inertial>
    <visual>
      <origin rpy="0 0 0" xyz="0.0 0.0 -0.055"/>
      <geometry>
        <box size="0.02 0.022 0.11"/>
      </geometry>
      <material name="Black">
     </material>
    </visual>
    <collision>
      <origin rpy="0 0 0" xyz="0.0 0.0 -0.055"/>
      <geometry>
        <box size="0.02 0.022 0.11"/>
      </geometry>
    </collision>
  </link>
  <gazebo reference="finger2_right">
    <material>Gazebo/Black</material>
    <turnGravityOff>false</turnGravityOff>
  </gazebo>
  <link name="grippoint_right">
    <inertial>
      <origin rpy="0 0 0" xyz="-0.1 0.0 0.0"/>
      <mass value="0.01"/>
      <inertia ixx="0.0001" ixy="0" ixz="0" iyy="0.0001" iyz="0" izz="0.0001"/>
    </inertial>
    <visual>
      <origin rpy="0 0 0 " xyz="-0.1 0.0 0.0"/>
      <geometry>
        <box size="0.0 0.0 0.0"/>
      </geometry>
      <material name="Blue">
     </material>
    </visual>
    <collision>
      <origin rpy="0 0 0 " xyz="-0.1 0.0 0.0"/>
      <geometry>
        <box size="0.0 0.0 0.0"/>
      </geometry>
    </collision>
  </link>
  <gazebo reference="grippoint_right">
    <material>Gazebo/Blue</material>
    <turnGravityOff>false</turnGravityOff>
  </gazebo>
  <joint name="shoulder_mount_joint_right" type="fixed">
    <parent link="torso"/>
    <child link="shoulder_mount_right"/>
    <origin rpy="0 0 0.0" xyz="0.05 0.22 0.0"/>
  </joint>
  <joint name="shoulder_yaw_joint_right" type="revolute">
    <parent link="shoulder_mount_right"/>
    <child link="shoulder_link1_right"/>
    <origin rpy="-1.5708 -1.5708 0" xyz="0 0 0"/>
    <axis xyz="+1 0 0"/>
    <dynamics damping="6.0" friction="4.87"/>
    <limit effort="13.4" lower="-1.58" upper="0.01" velocity="1.0"/>
  </joint>
  <joint name="shoulder_pitch_joint_right" type="revolute">
    <parent link="shoulder_link1_right"/>
    <child link="shoulder_link2_right"/>
    <origin rpy="-1.5708  0 0" xyz="0.0 0.0 0.0"/>
    <axis xyz="0 -1 0"/>
    <dynamics damping="6.0" friction="6.06"/>
    <limit effort="13.4" lower="-1.58" upper="1.58" velocity="1.0"/>
  </joint>
  <joint name="shoulder_roll_joint_right" type="revolute">
    <parent link="shoulder_link2_right"/>
    <child link="upper_arm_right"/>
    <origin rpy="1.5708 0 0.0" xyz="0.0 0.0 0.0"/>
    <axis xyz="0 1.0 0"/>
    <dynamics damping="6.0" friction="2.16"/>
    <limit effort="9.8" lower="-1.58" upper="1.58" velocity="1.0"/>
  </joint>
  <joint name="elbow_pitch_joint_right" type="revolute">
    <parent link="upper_arm_right"/>
    <child link="elbow_link4_right"/>
    <origin rpy="-1.5708 0 0" xyz="0.01 -0.32 0.0"/>
    <axis xyz="0 -1 0"/>
    <dynamics damping="2.5" friction="1.18"/>
    <limit effort="4.5" lower="-0.01" upper="2.24" velocity="1.0"/>
  </joint>
  <joint name="elbow_roll_joint_right" type="revolute">
    <parent link="elbow_link4_right"/>
    <child link="fore_arm_right"/>
    <origin rpy="1.5708 0 0" xyz="0.0 0.0 0.0"/>
    <axis xyz="0 1.0 0"/>
    <dynamics damping="2.5" friction="1.35"/>
    <limit effort="4.5" lower="-1.84" upper="1.84" velocity="1.0"/>
  </joint>
  <joint name="wrist_pitch_joint_right" type="revolute">
    <parent link="fore_arm_right"/>
    <child link="wrist_link6_right"/>
    <origin rpy="-1.5708 0 -1.5708" xyz="0.01 -0.28 0.0"/>
    <axis xyz="0 -1 0"/>
    <dynamics damping="0.5" friction="0.63"/>
    <limit effort="1" lower="-0.96" upper="0.96" velocity="1.0"/>
  </joint>
  <joint name="wrist_yaw_joint_right" type="revolute">
    <parent link="wrist_link6_right"/>
    <child link="hand_right"/>
    <origin rpy="0 0 0" xyz="0.0 0.0 0.0"/>
    <axis xyz="0 0 1.01"/>
    <dynamics damping="0.5" friction="0.68"/>
    <limit effort="1" lower="-0.8" upper="0.8" velocity="1.0"/>
  </joint>
  <joint name="finger1_joint_right" type="revolute">
    <parent link="hand_right"/>
    <child link="finger1_right"/>
    <origin rpy="0 -1.57 0" xyz=" 0.075 0.04 0"/>
    <axis xyz="1 0 0"/>
    <dynamics damping="0.1" friction="0.63"/>
    <limit effort="3" lower="-0.7854" upper="0.7854" velocity="1.0"/>
  </joint>
  <joint name="finger2_joint_right" type="revolute">
    <parent link="hand_right"/>
    <child link="finger2_right"/>
    <origin rpy="0 -1.57 0" xyz="0.075 -0.04 0"/>
    <axis xyz="1 0 0"/>
    <dynamics damping="0.1" friction="0.0"/>
    <limit effort="3" lower="-0.7854" upper="0.7854" velocity="1.0"/>
  </joint>
  <joint name="grippoint_joint_right" type="fixed">
    <parent link="hand_right"/>
    <child link="grippoint_right"/>
    <origin rpy="0 0 0" xyz="0.14 0.0 0.0"/>
  </joint>
  <link name="shoulder_mount_left">
    <inertial>
      <origin rpy="0 0 0" xyz="0.0 0.0 0.0"/>
      <mass value="0.1"/>
      <inertia ixx="0.01" ixy="0" ixz="0" iyy="0.01" iyz="0" izz="0.01"/>
    </inertial>
    <visual>
      <origin rpy="0 0 0 " xyz="0.0 0.0 0.0"/>
      <geometry>
        <cylinder length="0.11" radius="0.05"/>
      </geometry>
      <material name="Black">
     </material>
    </visual>
    <collision>
      <origin rpy="0 0 0 " xyz="0.0 0.0 0.0"/>
      <geometry>
        <cylinder length="0.11" radius="0.05"/>
      </geometry>
    </collision>
  </link>
  <gazebo reference="shoulder_mount_left">
    <material>Gazebo/Black</material>
    <turnGravityOff>false</turnGravityOff>
  </gazebo>
  <link name="shoulder_link1_left">
    <inertial>
      <origin rpy="0 0 0" xyz="0.0 0.0 0.0"/>
      <mass value="0.1"/>
      <inertia ixx="0.01" ixy="0" ixz="0" iyy="0.01" iyz="0" izz="0.01"/>
    </inertial>
    <visual>
      <origin rpy="0 0 0 " xyz="0.0 0.0 -0.0525"/>
      <geometry>
        <cylinder length="0.015" radius="0.045"/>
      </geometry>
      <material name="Black">
     </material>
    </visual>
    <collision>
      <origin rpy="0 0 0 " xyz="0.0 0.0 -0.0525"/>
      <geometry>
        <cylinder length="0.015" radius="0.045"/>
      </geometry>
    </collision>
  </link>
  <gazebo reference="shoulder_link1_left">
    <material>Gazebo/Black</material>
    <turnGravityOff>false</turnGravityOff>
  </gazebo>
  <link name="shoulder_link2_left">
    <inertial>
      <origin rpy="0 0 0" xyz="0.0 0.0 0.0"/>
      <mass value="0.1"/>
      <inertia ixx="0.001" ixy="0" ixz="0" iyy="0.001" iyz="0" izz="0.001"/>
    </inertial>
    <visual>
      <origin rpy="0 0 0" xyz="0.0 0.06 -0.05"/>
      <geometry>
        <box size="0.035 0.01 0.1"/>
      </geometry>
      <material name="Black">
     </material>
    </visual>
    <collision>
      <origin rpy="0 0 0" xyz="0.0 0.06 -0.05"/>
      <geometry>
        <box size="0.035 0.01 0.1"/>
      </geometry>
    </collision>
  </link>
  <gazebo reference="shoulder_link2_left">
    <material>Gazebo/Black</material>
    <turnGravityOff>false</turnGravityOff>
  </gazebo>
  <link name="upper_arm_left">
    <inertial>
      <origin rpy="0 0 0" xyz="0.0 -0.2 0.0"/>
      <mass value="2.9"/>
      <inertia ixx="0.027" ixy="0" ixz="0" iyy="0.027" iyz="0" izz="0.004"/>
    </inertial>
    <visual>
      <origin rpy="0 0 3.1415" xyz="-0.00959 -0.19131 -0.00001"/>
      <geometry>
        <mesh filename="package://amigo_robot_model/arms_DH/upperarmtextured.dae" scale="0.001 0.001 0.001"/>
      </geometry>
      <material name="white"/>
    </visual>
    <collision>
      <origin rpy="0 0 3.1415" xyz="-0.00959 -0.19131 -0.00001"/>
      <geometry>
        <mesh filename="package://amigo_robot_model/arms_DH/upperarmtextured.dae" scale="0.001 0.001 0.001"/>
      </geometry>
    </collision>
  </link>
  <gazebo reference="upper_arm_left">
    <material>amigo_robot_model/white</material>
    <turnGravityOff>false</turnGravityOff>
  </gazebo>
  <link name="elbow_link4_left">
    <inertial>
      <origin rpy="0 0 0" xyz="0.0 0.0 0.0"/>
      <mass value="0.1"/>
      <inertia ixx="0.001" ixy="0" ixz="0" iyy="0.001" iyz="0" izz="0.001"/>
    </inertial>
    <visual>
      <origin rpy="0 0 0" xyz="0.0 0.0 0.0"/>
      <geometry>
        <cylinder length="0.0" radius="0.0"/>
      </geometry>
      <material name="Grey">
     </material>
    </visual>
    <collision>
      <origin rpy="0 0 0" xyz="0.0 0.0 0.0"/>
      <geometry>
        <cylinder length="0.0" radius="0.0"/>
      </geometry>
    </collision>
  </link>
  <gazebo reference="elbow_link4_left">
    <material>Gazebo/Grey</material>
    <turnGravityOff>false</turnGravityOff>
  </gazebo>
  <link name="fore_arm_left">
    <inertial>
      <origin rpy="0.0 0 0" xyz="0.0 -0.14 0.0"/>
      <mass value="0.1"/>
      <inertia ixx="0.0054" ixy="0" ixz="0" iyy="0.0054" iyz="0" izz="0.0004"/>
    </inertial>
    <visual>
      <origin rpy="0 -1.5708 0" xyz="0.00425 -0.14868 0.00547"/>
      <geometry>
        <mesh filename="package://amigo_robot_model/arms_DH/forearmtextured.dae" scale="0.001 0.001 0.001"/>
      </geometry>
      <material name="white"/>
    </visual>
    <collision>
      <origin rpy="0 -1.5708 0" xyz="0.00425 -0.14868 0.00547"/>
      <geometry>
        <mesh filename="package://amigo_robot_model/arms_DH/forearmtextured.dae" scale="0.001 0.001 0.001"/>
      </geometry>
    </collision>
  </link>
  <gazebo reference="fore_arm_left">
    <material>amigo_robot_model/white</material>
    <turnGravityOff>false</turnGravityOff>
  </gazebo>
  <link name="wrist_link6_left">
    <inertial>
      <origin rpy="0 0 0" xyz="0.0 0.0 0.0"/>
      <mass value="0.01"/>
      <inertia ixx="0.001" ixy="0" ixz="0" iyy="0.001" iyz="0" izz="0.001"/>
    </inertial>
    <visual>
      <origin rpy="1.5708 0 0" xyz="0.0 0.0 0.0"/>
      <geometry>
        <cylinder length="0.0" radius="0.0"/>
      </geometry>
      <material name="Black">
     </material>
    </visual>
    <collision>
      <origin rpy="1.5708 0 0" xyz="0.0 0.0 0.0"/>
      <geometry>
        <cylinder length="0.0" radius="0.0"/>
      </geometry>
    </collision>
  </link>
  <gazebo reference="wrist_link6_left">
    <material>Gazebo/Black</material>
    <turnGravityOff>false</turnGravityOff>
  </gazebo>
  <link name="hand_left">
    <inertial>
      <origin rpy="0 0 0" xyz="0.048 0.0 0.0"/>
      <mass value="0.2"/>
      <inertia ixx="0.01" ixy="0" ixz="0" iyy="0.01" iyz="0" izz="0.01"/>
    </inertial>
    <visual>
      <origin rpy="0 0 0" xyz="0.048 0.0 0.0"/>
      <geometry>
        <box size="0.080 0.085 0.038"/>
      </geometry>
      <material name="Grey">
     </material>
    </visual>
    <collision>
      <origin rpy="0 0 0" xyz="0.048 0.0 0.0"/>
      <geometry>
        <box size="0.080 0.085 0.038"/>
      </geometry>
    </collision>
  </link>
  <gazebo reference="hand_left">
    <material>Gazebo/Grey</material>
    <turnGravityOff>false</turnGravityOff>
  </gazebo>
  <link name="finger1_left">
    <inertial>
      <origin rpy="0 0 0" xyz="0.0 0.0 -0.055"/>
      <mass value="0.05"/>
      <inertia ixx="0.00037" ixy="0" ixz="0" iyy="0.00052" iyz="0" izz="0.00052"/>
    </inertial>
    <visual>
      <origin rpy="0 0 0" xyz="0.0 0.0 -0.055"/>
      <geometry>
        <box size="0.02 0.022 0.11"/>
      </geometry>
      <material name="Black">
     </material>
    </visual>
    <collision>
      <origin rpy="0 0 0" xyz="0.0 0.0 -0.055"/>
      <geometry>
        <box size="0.02 0.022 0.11"/>
      </geometry>
    </collision>
  </link>
  <gazebo reference="finger1_left">
    <material>Gazebo/Black</material>
    <turnGravityOff>false</turnGravityOff>
  </gazebo>
  <link name="finger2_left">
    <inertial>
      <origin rpy="0 0 0" xyz="0.0 0.0 -0.055"/>
      <mass value="0.05"/>
      <inertia ixx="0.00037" ixy="0" ixz="0" iyy="0.00052" iyz="0" izz="0.00052"/>
    </inertial>
    <visual>
      <origin rpy="0 0 0" xyz="0.0 0.0 -0.055"/>
      <geometry>
        <box size="0.02 0.022 0.11"/>
      </geometry>
      <material name="Black">
     </material>
    </visual>
    <collision>
      <origin rpy="0 0 0" xyz="0.0 0.0 -0.055"/>
      <geometry>
        <box size="0.02 0.022 0.11"/>
      </geometry>
    </collision>
  </link>
  <gazebo reference="finger2_left">
    <material>Gazebo/Black</material>
    <turnGravityOff>false</turnGravityOff>
  </gazebo>
  <link name="grippoint_left">
    <inertial>
      <origin rpy="0 0 0" xyz="-0.1 0.0 0.0"/>
      <mass value="0.01"/>
      <inertia ixx="0.0001" ixy="0" ixz="0" iyy="0.0001" iyz="0" izz="0.0001"/>
    </inertial>
    <visual>
      <origin rpy="0 0 0 " xyz="-0.1 0.0 0.0"/>
      <geometry>
        <box size="0.0 0.0 0.0"/>
      </geometry>
      <material name="Blue">
     </material>
    </visual>
    <collision>
      <origin rpy="0 0 0 " xyz="-0.1 0.0 0.0"/>
      <geometry>
        <box size="0.0 0.0 0.0"/>
      </geometry>
    </collision>
  </link>
  <gazebo reference="grippoint_left">
    <material>Gazebo/Blue</material>
    <turnGravityOff>false</turnGravityOff>
  </gazebo>
  <joint name="shoulder_mount_joint_left" type="fixed">
    <parent link="torso"/>
    <child link="shoulder_mount_left"/>
    <origin rpy="0 0 0.0" xyz="0.05 -0.22 0.0"/>
  </joint>
  <joint name="shoulder_yaw_joint_left" type="revolute">
    <parent link="shoulder_mount_left"/>
    <child link="shoulder_link1_left"/>
    <origin rpy="-1.5708 -1.5708 0" xyz="0 0 0"/>
    <axis xyz="-1 0 0"/>
    <dynamics damping="6.0" friction="4.87"/>
    <limit effort="13.4" lower="-1.58" upper="0.01" velocity="1.0"/>
  </joint>
  <joint name="shoulder_pitch_joint_left" type="revolute">
    <parent link="shoulder_link1_left"/>
    <child link="shoulder_link2_left"/>
    <origin rpy="-1.5708  0 0" xyz="0.0 0.0 0.0"/>
    <axis xyz="0 -1 0"/>
    <dynamics damping="6.0" friction="6.06"/>
    <limit effort="13.4" lower="-1.58" upper="1.58" velocity="1.0"/>
  </joint>
  <joint name="shoulder_roll_joint_left" type="revolute">
    <parent link="shoulder_link2_left"/>
    <child link="upper_arm_left"/>
    <origin rpy="1.5708 0 0.0" xyz="0.0 0.0 0.0"/>
    <axis xyz="0 -1.0 0"/>
    <dynamics damping="6.0" friction="2.16"/>
    <limit effort="9.8" lower="-1.58" upper="1.58" velocity="1.0"/>
  </joint>
  <joint name="elbow_pitch_joint_left" type="revolute">
    <parent link="upper_arm_left"/>
    <child link="elbow_link4_left"/>
    <origin rpy="-1.5708 0 0" xyz="0.01 -0.32 0.0"/>
    <axis xyz="0 -1 0"/>
    <dynamics damping="2.5" friction="1.18"/>
    <limit effort="4.5" lower="-0.01" upper="2.24" velocity="1.0"/>
  </joint>
  <joint name="elbow_roll_joint_left" type="revolute">
    <parent link="elbow_link4_left"/>
    <child link="fore_arm_left"/>
    <origin rpy="1.5708 0 0" xyz="0.0 0.0 0.0"/>
    <axis xyz="0 -1.0 0"/>
    <dynamics damping="2.5" friction="1.35"/>
    <limit effort="4.5" lower="-1.84" upper="1.84" velocity="1.0"/>
  </joint>
  <joint name="wrist_pitch_joint_left" type="revolute">
    <parent link="fore_arm_left"/>
    <child link="wrist_link6_left"/>
    <origin rpy="-1.5708 0 -1.5708" xyz="0.01 -0.28 0.0"/>
    <axis xyz="0 -1 0"/>
    <dynamics damping="0.5" friction="0.63"/>
    <limit effort="1" lower="-0.96" upper="0.96" velocity="1.0"/>
  </joint>
  <joint name="wrist_yaw_joint_left" type="revolute">
    <parent link="wrist_link6_left"/>
    <child link="hand_left"/>
    <origin rpy="0 0 0" xyz="0.0 0.0 0.0"/>
    <axis xyz="0 0 -1.01"/>
    <dynamics damping="0.5" friction="0.68"/>
    <limit effort="1" lower="-0.8" upper="0.8" velocity="1.0"/>
  </joint>
  <joint name="finger1_joint_left" type="revolute">
    <parent link="hand_left"/>
    <child link="finger1_left"/>
    <origin rpy="0 -1.57 0" xyz=" 0.075 0.04 0"/>
    <axis xyz="1 0 0"/>
    <dynamics damping="0.1" friction="0.63"/>
    <limit effort="3" lower="-0.7854" upper="0.7854" velocity="1.0"/>
  </joint>
  <joint name="finger2_joint_left" type="revolute">
    <parent link="hand_left"/>
    <child link="finger2_left"/>
    <origin rpy="0 -1.57 0" xyz="0.075 -0.04 0"/>
    <axis xyz="1 0 0"/>
    <dynamics damping="0.1" friction="0.0"/>
    <limit effort="3" lower="-0.7854" upper="0.7854" velocity="1.0"/>
  </joint>
  <joint name="grippoint_joint_left" type="fixed">
    <parent link="hand_left"/>
    <child link="grippoint_left"/>
    <origin rpy="0 0 0" xyz="0.14 0.0 0.0"/>
  </joint>
  <!--extra arm visuals-->
  <link name="upper_arm_top_right">
    <inertial>
      <origin rpy="0 0 0" xyz="0.0 0.0 0.0"/>
      <mass value="0.01"/>
      <inertia ixx="0.027" ixy="0" ixz="0" iyy="0.027" iyz="0" izz="0.004"/>
    </inertial>
    <visual>
      <origin rpy="0 0 0" xyz="0.0 0.0 0.0"/>
      <geometry>
        <cylinder length="0.02" radius="0.0561"/>
      </geometry>
      <material name="Black">
     </material>
    </visual>
    <collision>
      <origin rpy="0 0 0" xyz="0.0 0.0 0.0"/>
      <geometry>
        <cylinder length="0.02" radius="0.0561"/>
      </geometry>
    </collision>
  </link>
  <gazebo reference="upper_arm_top_right">
    <material>Gazebo/Black</material>
    <turnGravityOff>false</turnGravityOff>
  </gazebo>
  <link name="elbow_extra_block_right">
    <inertial>
      <origin rpy="0 0 0" xyz="0.0 0.0 0.0"/>
      <mass value="0.01"/>
      <inertia ixx="0.001" ixy="0" ixz="0" iyy="0.001" iyz="0" izz="0.001"/>
    </inertial>
    <visual>
      <origin rpy="0 0 0" xyz="-0.036 0.0 0.02"/>
      <geometry>
        <box size="0.015 0.08 0.06"/>
      </geometry>
      <material name="Black">
     </material>
    </visual>
    <collision>
      <origin rpy="0 0 0" xyz="-0.036 0.0 0.02"/>
      <geometry>
        <box size="0.015 0.08 0.06"/>
      </geometry>
    </collision>
  </link>
  <gazebo reference="elbow_extra_block_right">
    <material>Gazebo/Black</material>
    <turnGravityOff>false</turnGravityOff>
  </gazebo>
  <link name="elbow_extra_block2_right">
    <inertial>
      <origin rpy="0 0 0" xyz="0.0 0.0 0.0"/>
      <mass value="0.01"/>
      <inertia ixx="0.001" ixy="0" ixz="0" iyy="0.001" iyz="0" izz="0.001"/>
    </inertial>
    <visual>
      <origin rpy="1.5708 0 0" xyz="0.0 0.0 0.0"/>
      <geometry>
        <cylinder length="0.08" radius="0.03"/>
      </geometry>
      <material name="Grey">
     </material>
    </visual>
    <collision>
      <origin rpy="1.5708 0 0" xyz="0.0 0.0 0.0"/>
      <geometry>
        <cylinder length="0.08" radius="0.03"/>
      </geometry>
    </collision>
  </link>
  <gazebo reference="elbow_extra_block2_right">
    <material>Gazebo/Grey</material>
    <turnGravityOff>false</turnGravityOff>
  </gazebo>
  <link name="fore_arm_top_right">
    <inertial>
      <origin rpy="0 0 0" xyz="0.0 0.0 0.0"/>
      <mass value="0.01"/>
      <inertia ixx="0.0054" ixy="0" ixz="0" iyy="0.0054" iyz="0" izz="0.0004"/>
    </inertial>
    <visual>
      <origin rpy="0 0 0" xyz="0.0 0.0 0.01"/>
      <geometry>
        <cylinder length="0.01" radius="0.037"/>
      </geometry>
      <material name="Black">
     </material>
    </visual>
    <collision>
      <origin rpy="0 0 0" xyz="0.0 0.0 0.01"/>
      <geometry>
        <cylinder length="0.01" radius="0.037"/>
      </geometry>
    </collision>
  </link>
  <gazebo reference="fore_arm_top_right">
    <material>Gazebo/Black</material>
    <turnGravityOff>false</turnGravityOff>
  </gazebo>
  <link name="wrist_visual_right">
    <inertial>
      <origin rpy="0 0 0" xyz="0.0 0.0 0.0"/>
      <mass value="0.01"/>
      <inertia ixx="0.001" ixy="0" ixz="0" iyy="0.001" iyz="0" izz="0.001"/>
    </inertial>
    <visual>
      <origin rpy="0 0 0" xyz="0.0 0.0 0.0"/>
      <geometry>
        <cylinder length="0.06" radius="0.018"/>
      </geometry>
      <material name="Grey">
     </material>
    </visual>
    <collision>
      <origin rpy="0 0 0" xyz="0.0 0.0 0.0"/>
      <geometry>
        <cylinder length="0.06" radius="0.018"/>
      </geometry>
    </collision>
  </link>
  <gazebo reference="wrist_visual_right">
    <material>Gazebo/Grey</material>
    <turnGravityOff>false</turnGravityOff>
  </gazebo>
  <link name="wrist_to_hand_block_right">
    <inertial>
      <origin rpy="0 0 0" xyz="0.0 0.0 0.0"/>
      <mass value="0.01"/>
      <inertia ixx="0.001" ixy="0" ixz="0" iyy="0.001" iyz="0" izz="0.001"/>
    </inertial>
    <visual>
      <origin rpy="0 0 0" xyz="0.0 0.0 0.0"/>
      <geometry>
        <box size="0.03 0.02 0.038"/>
      </geometry>
      <material name="Grey">
     </material>
    </visual>
    <collision>
      <origin rpy="0 0 0" xyz="0.0 0.0 0.0"/>
      <geometry>
        <box size="0.03 0.02 0.038"/>
      </geometry>
    </collision>
  </link>
  <gazebo reference="wrist_to_hand_block_right">
    <material>Gazebo/Grey</material>
    <turnGravityOff>false</turnGravityOff>
  </gazebo>
  <joint name="upper_arm_top_joint_right" type="fixed">
    <parent link="upper_arm_right"/>
    <child link="upper_arm_top_right"/>
    <origin rpy="1.5708 0 0.0" xyz="-0.01 -0.1 0.0"/>
  </joint>
  <joint name="elbow_extra_block_joint_right" type="fixed">
    <parent link="upper_arm_right"/>
    <child link="elbow_extra_block_right"/>
    <origin rpy="-1.5708 0 0" xyz="0.0 -0.31 0.0"/>
  </joint>
  <joint name="elbow_extra_block2_joint_right" type="fixed">
    <parent link="upper_arm_right"/>
    <child link="elbow_extra_block2_right"/>
    <origin rpy="-1.5708 0 0" xyz="0.0 -0.31 0.0"/>
  </joint>
  <joint name="fore_arm_top_joint_right" type="fixed">
    <parent link="fore_arm_right"/>
    <child link="fore_arm_top_right"/>
    <origin rpy="1.5708 0 0" xyz="0.002 -0.011 0.0"/>
  </joint>
  <joint name="wrist_visual_joint_right" type="fixed">
    <parent link="wrist_link6_right"/>
    <child link="wrist_visual_right"/>
    <origin rpy="1.5708 0 0" xyz="-0.02 0.0 0.0"/>
  </joint>
  <joint name="wrist_to_hand_block_joint_right" type="fixed">
    <parent link="wrist_link6_right"/>
    <child link="wrist_to_hand_block_right"/>
    <origin rpy="0 0 0" xyz="0.0 0.0 0.0"/>
  </joint>
  <link name="upper_arm_top_left">
    <inertial>
      <origin rpy="0 0 0" xyz="0.0 0.0 0.0"/>
      <mass value="0.01"/>
      <inertia ixx="0.027" ixy="0" ixz="0" iyy="0.027" iyz="0" izz="0.004"/>
    </inertial>
    <visual>
      <origin rpy="0 0 0" xyz="0.0 0.0 0.0"/>
      <geometry>
        <cylinder length="0.02" radius="0.0561"/>
      </geometry>
      <material name="Black">
     </material>
    </visual>
    <collision>
      <origin rpy="0 0 0" xyz="0.0 0.0 0.0"/>
      <geometry>
        <cylinder length="0.02" radius="0.0561"/>
      </geometry>
    </collision>
  </link>
  <gazebo reference="upper_arm_top_left">
    <material>Gazebo/Black</material>
    <turnGravityOff>false</turnGravityOff>
  </gazebo>
  <link name="elbow_extra_block_left">
    <inertial>
      <origin rpy="0 0 0" xyz="0.0 0.0 0.0"/>
      <mass value="0.01"/>
      <inertia ixx="0.001" ixy="0" ixz="0" iyy="0.001" iyz="0" izz="0.001"/>
    </inertial>
    <visual>
      <origin rpy="0 0 0" xyz="-0.036 0.0 0.02"/>
      <geometry>
        <box size="0.015 0.08 0.06"/>
      </geometry>
      <material name="Black">
     </material>
    </visual>
    <collision>
      <origin rpy="0 0 0" xyz="-0.036 0.0 0.02"/>
      <geometry>
        <box size="0.015 0.08 0.06"/>
      </geometry>
    </collision>
  </link>
  <gazebo reference="elbow_extra_block_left">
    <material>Gazebo/Black</material>
    <turnGravityOff>false</turnGravityOff>
  </gazebo>
  <link name="elbow_extra_block2_left">
    <inertial>
      <origin rpy="0 0 0" xyz="0.0 0.0 0.0"/>
      <mass value="0.01"/>
      <inertia ixx="0.001" ixy="0" ixz="0" iyy="0.001" iyz="0" izz="0.001"/>
    </inertial>
    <visual>
      <origin rpy="1.5708 0 0" xyz="0.0 0.0 0.0"/>
      <geometry>
        <cylinder length="0.08" radius="0.03"/>
      </geometry>
      <material name="Grey">
     </material>
    </visual>
    <collision>
      <origin rpy="1.5708 0 0" xyz="0.0 0.0 0.0"/>
      <geometry>
        <cylinder length="0.08" radius="0.03"/>
      </geometry>
    </collision>
  </link>
  <gazebo reference="elbow_extra_block2_left">
    <material>Gazebo/Grey</material>
    <turnGravityOff>false</turnGravityOff>
  </gazebo>
  <link name="fore_arm_top_left">
    <inertial>
      <origin rpy="0 0 0" xyz="0.0 0.0 0.0"/>
      <mass value="0.01"/>
      <inertia ixx="0.0054" ixy="0" ixz="0" iyy="0.0054" iyz="0" izz="0.0004"/>
    </inertial>
    <visual>
      <origin rpy="0 0 0" xyz="0.0 0.0 0.01"/>
      <geometry>
        <cylinder length="0.01" radius="0.037"/>
      </geometry>
      <material name="Black">
     </material>
    </visual>
    <collision>
      <origin rpy="0 0 0" xyz="0.0 0.0 0.01"/>
      <geometry>
        <cylinder length="0.01" radius="0.037"/>
      </geometry>
    </collision>
  </link>
  <gazebo reference="fore_arm_top_left">
    <material>Gazebo/Black</material>
    <turnGravityOff>false</turnGravityOff>
  </gazebo>
  <link name="wrist_visual_left">
    <inertial>
      <origin rpy="0 0 0" xyz="0.0 0.0 0.0"/>
      <mass value="0.01"/>
      <inertia ixx="0.001" ixy="0" ixz="0" iyy="0.001" iyz="0" izz="0.001"/>
    </inertial>
    <visual>
      <origin rpy="0 0 0" xyz="0.0 0.0 0.0"/>
      <geometry>
        <cylinder length="0.06" radius="0.018"/>
      </geometry>
      <material name="Grey">
     </material>
    </visual>
    <collision>
      <origin rpy="0 0 0" xyz="0.0 0.0 0.0"/>
      <geometry>
        <cylinder length="0.06" radius="0.018"/>
      </geometry>
    </collision>
  </link>
  <gazebo reference="wrist_visual_left">
    <material>Gazebo/Grey</material>
    <turnGravityOff>false</turnGravityOff>
  </gazebo>
  <link name="wrist_to_hand_block_left">
    <inertial>
      <origin rpy="0 0 0" xyz="0.0 0.0 0.0"/>
      <mass value="0.01"/>
      <inertia ixx="0.001" ixy="0" ixz="0" iyy="0.001" iyz="0" izz="0.001"/>
    </inertial>
    <visual>
      <origin rpy="0 0 0" xyz="0.0 0.0 0.0"/>
      <geometry>
        <box size="0.03 0.02 0.038"/>
      </geometry>
      <material name="Grey">
     </material>
    </visual>
    <collision>
      <origin rpy="0 0 0" xyz="0.0 0.0 0.0"/>
      <geometry>
        <box size="0.03 0.02 0.038"/>
      </geometry>
    </collision>
  </link>
  <gazebo reference="wrist_to_hand_block_left">
    <material>Gazebo/Grey</material>
    <turnGravityOff>false</turnGravityOff>
  </gazebo>
  <joint name="upper_arm_top_joint_left" type="fixed">
    <parent link="upper_arm_left"/>
    <child link="upper_arm_top_left"/>
    <origin rpy="1.5708 0 0.0" xyz="-0.01 -0.1 0.0"/>
  </joint>
  <joint name="elbow_extra_block_joint_left" type="fixed">
    <parent link="upper_arm_left"/>
    <child link="elbow_extra_block_left"/>
    <origin rpy="-1.5708 0 0" xyz="0.0 -0.31 0.0"/>
  </joint>
  <joint name="elbow_extra_block2_joint_left" type="fixed">
    <parent link="upper_arm_left"/>
    <child link="elbow_extra_block2_left"/>
    <origin rpy="-1.5708 0 0" xyz="0.0 -0.31 0.0"/>
  </joint>
  <joint name="fore_arm_top_joint_left" type="fixed">
    <parent link="fore_arm_left"/>
    <child link="fore_arm_top_left"/>
    <origin rpy="1.5708 0 0" xyz="0.002 -0.011 0.0"/>
  </joint>
  <joint name="wrist_visual_joint_left" type="fixed">
    <parent link="wrist_link6_left"/>
    <child link="wrist_visual_left"/>
    <origin rpy="1.5708 0 0" xyz="-0.02 0.0 0.0"/>
  </joint>
  <joint name="wrist_to_hand_block_joint_left" type="fixed">
    <parent link="wrist_link6_left"/>
    <child link="wrist_to_hand_block_left"/>
    <origin rpy="0 0 0" xyz="0.0 0.0 0.0"/>
  </joint>
  <!--====BUILD STUFF THAT NEEDS TO RUN IN EITHER SIMULATION OR ON THE REAL ROBOT ====-->
  <joint name="omni_sphere1_joint_left_front" type="continuous">
    <parent link="wheel_left_front"/>
    <child link="omni_sphere1_left_front"/>
    <axis xyz="0 1 0"/>
    <origin rpy="0.0 0 0" xyz="0.0 0.03 0.0"/>
    <dynamics damping="0.01" friction="0.0"/>
    <limit effort="0.5" velocity="0.05"/>
  </joint>
  <link name="omni_sphere1_left_front">
    <inertial>
      <origin rpy="0 0 0" xyz="0.0 0.0 0.0"/>
      <mass value="0.05"/>
      <inertia ixx="0.000018" ixy="0" ixz="0" iyy="0.000018" iyz="0" izz="0.000018"/>
    </inertial>
    <visual>
      <origin rpy="0 0 0" xyz="0.0 0.0 0.0"/>
      <geometry>
        <sphere radius="0.03"/>
      </geometry>
      <material name="Grey">
     </material>
    </visual>
    <collision>
      <origin rpy="0 0 0" xyz="0.0 0.0 0.0"/>
      <geometry>
        <sphere radius="0.03"/>
      </geometry>
    </collision>
  </link>
  <gazebo reference="omni_sphere1_left_front">
    <material>Gazebo/Grey</material>
    <turnGravityOff>false</turnGravityOff>
  </gazebo>
  <joint name="omni_sphere1_joint_right_front" type="continuous">
    <parent link="wheel_right_front"/>
    <child link="omni_sphere1_right_front"/>
    <axis xyz="0 1 0"/>
    <origin rpy="0.0 0 0" xyz="0.0 0.03 0.0"/>
    <dynamics damping="0.01" friction="0.0"/>
    <limit effort="0.5" velocity="0.05"/>
  </joint>
  <link name="omni_sphere1_right_front">
    <inertial>
      <origin rpy="0 0 0" xyz="0.0 0.0 0.0"/>
      <mass value="0.05"/>
      <inertia ixx="0.000018" ixy="0" ixz="0" iyy="0.000018" iyz="0" izz="0.000018"/>
    </inertial>
    <visual>
      <origin rpy="0 0 0" xyz="0.0 0.0 0.0"/>
      <geometry>
        <sphere radius="0.03"/>
      </geometry>
      <material name="Grey">
     </material>
    </visual>
    <collision>
      <origin rpy="0 0 0" xyz="0.0 0.0 0.0"/>
      <geometry>
        <sphere radius="0.03"/>
      </geometry>
    </collision>
  </link>
  <gazebo reference="omni_sphere1_right_front">
    <material>Gazebo/Grey</material>
    <turnGravityOff>false</turnGravityOff>
  </gazebo>
  <joint name="omni_sphere1_joint_left_rear" type="continuous">
    <parent link="wheel_left_rear"/>
    <child link="omni_sphere1_left_rear"/>
    <axis xyz="0 1 0"/>
    <origin rpy="0.0 0 0" xyz="0.0 0.03 0.0"/>
    <dynamics damping="0.01" friction="0.0"/>
    <limit effort="0.5" velocity="0.05"/>
  </joint>
  <link name="omni_sphere1_left_rear">
    <inertial>
      <origin rpy="0 0 0" xyz="0.0 0.0 0.0"/>
      <mass value="0.05"/>
      <inertia ixx="0.000018" ixy="0" ixz="0" iyy="0.000018" iyz="0" izz="0.000018"/>
    </inertial>
    <visual>
      <origin rpy="0 0 0" xyz="0.0 0.0 0.0"/>
      <geometry>
        <sphere radius="0.03"/>
      </geometry>
      <material name="Grey">
     </material>
    </visual>
    <collision>
      <origin rpy="0 0 0" xyz="0.0 0.0 0.0"/>
      <geometry>
        <sphere radius="0.03"/>
      </geometry>
    </collision>
  </link>
  <gazebo reference="omni_sphere1_left_rear">
    <material>Gazebo/Grey</material>
    <turnGravityOff>false</turnGravityOff>
  </gazebo>
  <joint name="omni_sphere1_joint_right_rear" type="continuous">
    <parent link="wheel_right_rear"/>
    <child link="omni_sphere1_right_rear"/>
    <axis xyz="0 1 0"/>
    <origin rpy="0.0 0 0" xyz="0.0 0.03 0.0"/>
    <dynamics damping="0.01" friction="0.0"/>
    <limit effort="0.5" velocity="0.05"/>
  </joint>
  <link name="omni_sphere1_right_rear">
    <inertial>
      <origin rpy="0 0 0" xyz="0.0 0.0 0.0"/>
      <mass value="0.05"/>
      <inertia ixx="0.000018" ixy="0" ixz="0" iyy="0.000018" iyz="0" izz="0.000018"/>
    </inertial>
    <visual>
      <origin rpy="0 0 0" xyz="0.0 0.0 0.0"/>
      <geometry>
        <sphere radius="0.03"/>
      </geometry>
      <material name="Grey">
     </material>
    </visual>
    <collision>
      <origin rpy="0 0 0" xyz="0.0 0.0 0.0"/>
      <geometry>
        <sphere radius="0.03"/>
      </geometry>
    </collision>
  </link>
  <gazebo reference="omni_sphere1_right_rear">
    <material>Gazebo/Grey</material>
    <turnGravityOff>false</turnGravityOff>
  </gazebo>
  <joint name="omni_sphere2_joint_left_front" type="continuous">
    <parent link="wheel_left_front"/>
    <child link="omni_sphere2_left_front"/>
    <axis xyz="0 1 0"/>
    <origin rpy="0.5236 0 0" xyz="0.0 0.026 0.015"/>
    <dynamics damping="0.01" friction="0.0"/>
    <limit effort="0.5" velocity="0.05"/>
  </joint>
  <link name="omni_sphere2_left_front">
    <inertial>
      <origin rpy="0 0 0" xyz="0.0 0.0 0.0"/>
      <mass value="0.05"/>
      <inertia ixx="0.000018" ixy="0" ixz="0" iyy="0.000018" iyz="0" izz="0.000018"/>
    </inertial>
    <visual>
      <origin rpy="0 0 0" xyz="0.0 0.0 0.0"/>
      <geometry>
        <sphere radius="0.03"/>
      </geometry>
      <material name="Grey">
     </material>
    </visual>
    <collision>
      <origin rpy="0 0 0" xyz="0.0 0.0 0.0"/>
      <geometry>
        <sphere radius="0.03"/>
      </geometry>
    </collision>
  </link>
  <gazebo reference="omni_sphere2_left_front">
    <material>Gazebo/Grey</material>
    <turnGravityOff>false</turnGravityOff>
  </gazebo>
  <joint name="omni_sphere2_joint_right_front" type="continuous">
    <parent link="wheel_right_front"/>
    <child link="omni_sphere2_right_front"/>
    <axis xyz="0 1 0"/>
    <origin rpy="0.5236 0 0" xyz="0.0 0.026 0.015"/>
    <dynamics damping="0.01" friction="0.0"/>
    <limit effort="0.5" velocity="0.05"/>
  </joint>
  <link name="omni_sphere2_right_front">
    <inertial>
      <origin rpy="0 0 0" xyz="0.0 0.0 0.0"/>
      <mass value="0.05"/>
      <inertia ixx="0.000018" ixy="0" ixz="0" iyy="0.000018" iyz="0" izz="0.000018"/>
    </inertial>
    <visual>
      <origin rpy="0 0 0" xyz="0.0 0.0 0.0"/>
      <geometry>
        <sphere radius="0.03"/>
      </geometry>
      <material name="Grey">
     </material>
    </visual>
    <collision>
      <origin rpy="0 0 0" xyz="0.0 0.0 0.0"/>
      <geometry>
        <sphere radius="0.03"/>
      </geometry>
    </collision>
  </link>
  <gazebo reference="omni_sphere2_right_front">
    <material>Gazebo/Grey</material>
    <turnGravityOff>false</turnGravityOff>
  </gazebo>
  <joint name="omni_sphere2_joint_left_rear" type="continuous">
    <parent link="wheel_left_rear"/>
    <child link="omni_sphere2_left_rear"/>
    <axis xyz="0 1 0"/>
    <origin rpy="0.5236 0 0" xyz="0.0 0.026 0.015"/>
    <dynamics damping="0.01" friction="0.0"/>
    <limit effort="0.5" velocity="0.05"/>
  </joint>
  <link name="omni_sphere2_left_rear">
    <inertial>
      <origin rpy="0 0 0" xyz="0.0 0.0 0.0"/>
      <mass value="0.05"/>
      <inertia ixx="0.000018" ixy="0" ixz="0" iyy="0.000018" iyz="0" izz="0.000018"/>
    </inertial>
    <visual>
      <origin rpy="0 0 0" xyz="0.0 0.0 0.0"/>
      <geometry>
        <sphere radius="0.03"/>
      </geometry>
      <material name="Grey">
     </material>
    </visual>
    <collision>
      <origin rpy="0 0 0" xyz="0.0 0.0 0.0"/>
      <geometry>
        <sphere radius="0.03"/>
      </geometry>
    </collision>
  </link>
  <gazebo reference="omni_sphere2_left_rear">
    <material>Gazebo/Grey</material>
    <turnGravityOff>false</turnGravityOff>
  </gazebo>
  <joint name="omni_sphere2_joint_right_rear" type="continuous">
    <parent link="wheel_right_rear"/>
    <child link="omni_sphere2_right_rear"/>
    <axis xyz="0 1 0"/>
    <origin rpy="0.5236 0 0" xyz="0.0 0.026 0.015"/>
    <dynamics damping="0.01" friction="0.0"/>
    <limit effort="0.5" velocity="0.05"/>
  </joint>
  <link name="omni_sphere2_right_rear">
    <inertial>
      <origin rpy="0 0 0" xyz="0.0 0.0 0.0"/>
      <mass value="0.05"/>
      <inertia ixx="0.000018" ixy="0" ixz="0" iyy="0.000018" iyz="0" izz="0.000018"/>
    </inertial>
    <visual>
      <origin rpy="0 0 0" xyz="0.0 0.0 0.0"/>
      <geometry>
        <sphere radius="0.03"/>
      </geometry>
      <material name="Grey">
     </material>
    </visual>
    <collision>
      <origin rpy="0 0 0" xyz="0.0 0.0 0.0"/>
      <geometry>
        <sphere radius="0.03"/>
      </geometry>
    </collision>
  </link>
  <gazebo reference="omni_sphere2_right_rear">
    <material>Gazebo/Grey</material>
    <turnGravityOff>false</turnGravityOff>
  </gazebo>
  <joint name="omni_sphere3_joint_left_front" type="continuous">
    <parent link="wheel_left_front"/>
    <child link="omni_sphere3_left_front"/>
    <axis xyz="0 1 0"/>
    <origin rpy="1.0472 0 0" xyz="0.0 0.015 0.026"/>
    <dynamics damping="0.01" friction="0.0"/>
    <limit effort="0.5" velocity="0.05"/>
  </joint>
  <link name="omni_sphere3_left_front">
    <inertial>
      <origin rpy="0 0 0" xyz="0.0 0.0 0.0"/>
      <mass value="0.05"/>
      <inertia ixx="0.000018" ixy="0" ixz="0" iyy="0.000018" iyz="0" izz="0.000018"/>
    </inertial>
    <visual>
      <origin rpy="0 0 0" xyz="0.0 0.0 0.0"/>
      <geometry>
        <sphere radius="0.03"/>
      </geometry>
      <material name="Grey">
     </material>
    </visual>
    <collision>
      <origin rpy="0 0 0" xyz="0.0 0.0 0.0"/>
      <geometry>
        <sphere radius="0.03"/>
      </geometry>
    </collision>
  </link>
  <gazebo reference="omni_sphere3_left_front">
    <material>Gazebo/Grey</material>
    <turnGravityOff>false</turnGravityOff>
  </gazebo>
  <joint name="omni_sphere3_joint_right_front" type="continuous">
    <parent link="wheel_right_front"/>
    <child link="omni_sphere3_right_front"/>
    <axis xyz="0 1 0"/>
    <origin rpy="1.0472 0 0" xyz="0.0 0.015 0.026"/>
    <dynamics damping="0.01" friction="0.0"/>
    <limit effort="0.5" velocity="0.05"/>
  </joint>
  <link name="omni_sphere3_right_front">
    <inertial>
      <origin rpy="0 0 0" xyz="0.0 0.0 0.0"/>
      <mass value="0.05"/>
      <inertia ixx="0.000018" ixy="0" ixz="0" iyy="0.000018" iyz="0" izz="0.000018"/>
    </inertial>
    <visual>
      <origin rpy="0 0 0" xyz="0.0 0.0 0.0"/>
      <geometry>
        <sphere radius="0.03"/>
      </geometry>
      <material name="Grey">
     </material>
    </visual>
    <collision>
      <origin rpy="0 0 0" xyz="0.0 0.0 0.0"/>
      <geometry>
        <sphere radius="0.03"/>
      </geometry>
    </collision>
  </link>
  <gazebo reference="omni_sphere3_right_front">
    <material>Gazebo/Grey</material>
    <turnGravityOff>false</turnGravityOff>
  </gazebo>
  <joint name="omni_sphere3_joint_left_rear" type="continuous">
    <parent link="wheel_left_rear"/>
    <child link="omni_sphere3_left_rear"/>
    <axis xyz="0 1 0"/>
    <origin rpy="1.0472 0 0" xyz="0.0 0.015 0.026"/>
    <dynamics damping="0.01" friction="0.0"/>
    <limit effort="0.5" velocity="0.05"/>
  </joint>
  <link name="omni_sphere3_left_rear">
    <inertial>
      <origin rpy="0 0 0" xyz="0.0 0.0 0.0"/>
      <mass value="0.05"/>
      <inertia ixx="0.000018" ixy="0" ixz="0" iyy="0.000018" iyz="0" izz="0.000018"/>
    </inertial>
    <visual>
      <origin rpy="0 0 0" xyz="0.0 0.0 0.0"/>
      <geometry>
        <sphere radius="0.03"/>
      </geometry>
      <material name="Grey">
     </material>
    </visual>
    <collision>
      <origin rpy="0 0 0" xyz="0.0 0.0 0.0"/>
      <geometry>
        <sphere radius="0.03"/>
      </geometry>
    </collision>
  </link>
  <gazebo reference="omni_sphere3_left_rear">
    <material>Gazebo/Grey</material>
    <turnGravityOff>false</turnGravityOff>
  </gazebo>
  <joint name="omni_sphere3_joint_right_rear" type="continuous">
    <parent link="wheel_right_rear"/>
    <child link="omni_sphere3_right_rear"/>
    <axis xyz="0 1 0"/>
    <origin rpy="1.0472 0 0" xyz="0.0 0.015 0.026"/>
    <dynamics damping="0.01" friction="0.0"/>
    <limit effort="0.5" velocity="0.05"/>
  </joint>
  <link name="omni_sphere3_right_rear">
    <inertial>
      <origin rpy="0 0 0" xyz="0.0 0.0 0.0"/>
      <mass value="0.05"/>
      <inertia ixx="0.000018" ixy="0" ixz="0" iyy="0.000018" iyz="0" izz="0.000018"/>
    </inertial>
    <visual>
      <origin rpy="0 0 0" xyz="0.0 0.0 0.0"/>
      <geometry>
        <sphere radius="0.03"/>
      </geometry>
      <material name="Grey">
     </material>
    </visual>
    <collision>
      <origin rpy="0 0 0" xyz="0.0 0.0 0.0"/>
      <geometry>
        <sphere radius="0.03"/>
      </geometry>
    </collision>
  </link>
  <gazebo reference="omni_sphere3_right_rear">
    <material>Gazebo/Grey</material>
    <turnGravityOff>false</turnGravityOff>
  </gazebo>
  <joint name="omni_sphere4_joint_left_front" type="continuous">
    <parent link="wheel_left_front"/>
    <child link="omni_sphere4_left_front"/>
    <axis xyz="0 1 0"/>
    <origin rpy="1.5708 0 0" xyz="0.0 0 0.03"/>
    <dynamics damping="0.01" friction="0.0"/>
    <limit effort="0.5" velocity="0.05"/>
  </joint>
  <link name="omni_sphere4_left_front">
    <inertial>
      <origin rpy="0 0 0" xyz="0.0 0.0 0.0"/>
      <mass value="0.05"/>
      <inertia ixx="0.000018" ixy="0" ixz="0" iyy="0.000018" iyz="0" izz="0.000018"/>
    </inertial>
    <visual>
      <origin rpy="0 0 0" xyz="0.0 0.0 0.0"/>
      <geometry>
        <sphere radius="0.03"/>
      </geometry>
      <material name="Grey">
     </material>
    </visual>
    <collision>
      <origin rpy="0 0 0" xyz="0.0 0.0 0.0"/>
      <geometry>
        <sphere radius="0.03"/>
      </geometry>
    </collision>
  </link>
  <gazebo reference="omni_sphere4_left_front">
    <material>Gazebo/Grey</material>
    <turnGravityOff>false</turnGravityOff>
  </gazebo>
  <joint name="omni_sphere4_joint_right_front" type="continuous">
    <parent link="wheel_right_front"/>
    <child link="omni_sphere4_right_front"/>
    <axis xyz="0 1 0"/>
    <origin rpy="1.5708 0 0" xyz="0.0 0 0.03"/>
    <dynamics damping="0.01" friction="0.0"/>
    <limit effort="0.5" velocity="0.05"/>
  </joint>
  <link name="omni_sphere4_right_front">
    <inertial>
      <origin rpy="0 0 0" xyz="0.0 0.0 0.0"/>
      <mass value="0.05"/>
      <inertia ixx="0.000018" ixy="0" ixz="0" iyy="0.000018" iyz="0" izz="0.000018"/>
    </inertial>
    <visual>
      <origin rpy="0 0 0" xyz="0.0 0.0 0.0"/>
      <geometry>
        <sphere radius="0.03"/>
      </geometry>
      <material name="Grey">
     </material>
    </visual>
    <collision>
      <origin rpy="0 0 0" xyz="0.0 0.0 0.0"/>
      <geometry>
        <sphere radius="0.03"/>
      </geometry>
    </collision>
  </link>
  <gazebo reference="omni_sphere4_right_front">
    <material>Gazebo/Grey</material>
    <turnGravityOff>false</turnGravityOff>
  </gazebo>
  <joint name="omni_sphere4_joint_left_rear" type="continuous">
    <parent link="wheel_left_rear"/>
    <child link="omni_sphere4_left_rear"/>
    <axis xyz="0 1 0"/>
    <origin rpy="1.5708 0 0" xyz="0.0 0 0.03"/>
    <dynamics damping="0.01" friction="0.0"/>
    <limit effort="0.5" velocity="0.05"/>
  </joint>
  <link name="omni_sphere4_left_rear">
    <inertial>
      <origin rpy="0 0 0" xyz="0.0 0.0 0.0"/>
      <mass value="0.05"/>
      <inertia ixx="0.000018" ixy="0" ixz="0" iyy="0.000018" iyz="0" izz="0.000018"/>
    </inertial>
    <visual>
      <origin rpy="0 0 0" xyz="0.0 0.0 0.0"/>
      <geometry>
        <sphere radius="0.03"/>
      </geometry>
      <material name="Grey">
     </material>
    </visual>
    <collision>
      <origin rpy="0 0 0" xyz="0.0 0.0 0.0"/>
      <geometry>
        <sphere radius="0.03"/>
      </geometry>
    </collision>
  </link>
  <gazebo reference="omni_sphere4_left_rear">
    <material>Gazebo/Grey</material>
    <turnGravityOff>false</turnGravityOff>
  </gazebo>
  <joint name="omni_sphere4_joint_right_rear" type="continuous">
    <parent link="wheel_right_rear"/>
    <child link="omni_sphere4_right_rear"/>
    <axis xyz="0 1 0"/>
    <origin rpy="1.5708 0 0" xyz="0.0 0 0.03"/>
    <dynamics damping="0.01" friction="0.0"/>
    <limit effort="0.5" velocity="0.05"/>
  </joint>
  <link name="omni_sphere4_right_rear">
    <inertial>
      <origin rpy="0 0 0" xyz="0.0 0.0 0.0"/>
      <mass value="0.05"/>
      <inertia ixx="0.000018" ixy="0" ixz="0" iyy="0.000018" iyz="0" izz="0.000018"/>
    </inertial>
    <visual>
      <origin rpy="0 0 0" xyz="0.0 0.0 0.0"/>
      <geometry>
        <sphere radius="0.03"/>
      </geometry>
      <material name="Grey">
     </material>
    </visual>
    <collision>
      <origin rpy="0 0 0" xyz="0.0 0.0 0.0"/>
      <geometry>
        <sphere radius="0.03"/>
      </geometry>
    </collision>
  </link>
  <gazebo reference="omni_sphere4_right_rear">
    <material>Gazebo/Grey</material>
    <turnGravityOff>false</turnGravityOff>
  </gazebo>
  <joint name="omni_sphere5_joint_left_front" type="continuous">
    <parent link="wheel_left_front"/>
    <child link="omni_sphere5_left_front"/>
    <axis xyz="0 1 0"/>
    <origin rpy="2.0944 0 0" xyz="0.0 -0.015 0.026"/>
    <dynamics damping="0.01" friction="0.0"/>
    <limit effort="0.5" velocity="0.05"/>
  </joint>
  <link name="omni_sphere5_left_front">
    <inertial>
      <origin rpy="0 0 0" xyz="0.0 0.0 0.0"/>
      <mass value="0.05"/>
      <inertia ixx="0.000018" ixy="0" ixz="0" iyy="0.000018" iyz="0" izz="0.000018"/>
    </inertial>
    <visual>
      <origin rpy="0 0 0" xyz="0.0 0.0 0.0"/>
      <geometry>
        <sphere radius="0.03"/>
      </geometry>
      <material name="Grey">
     </material>
    </visual>
    <collision>
      <origin rpy="0 0 0" xyz="0.0 0.0 0.0"/>
      <geometry>
        <sphere radius="0.03"/>
      </geometry>
    </collision>
  </link>
  <gazebo reference="omni_sphere5_left_front">
    <material>Gazebo/Grey</material>
    <turnGravityOff>false</turnGravityOff>
  </gazebo>
  <joint name="omni_sphere5_joint_right_front" type="continuous">
    <parent link="wheel_right_front"/>
    <child link="omni_sphere5_right_front"/>
    <axis xyz="0 1 0"/>
    <origin rpy="2.0944 0 0" xyz="0.0 -0.015 0.026"/>
    <dynamics damping="0.01" friction="0.0"/>
    <limit effort="0.5" velocity="0.05"/>
  </joint>
  <link name="omni_sphere5_right_front">
    <inertial>
      <origin rpy="0 0 0" xyz="0.0 0.0 0.0"/>
      <mass value="0.05"/>
      <inertia ixx="0.000018" ixy="0" ixz="0" iyy="0.000018" iyz="0" izz="0.000018"/>
    </inertial>
    <visual>
      <origin rpy="0 0 0" xyz="0.0 0.0 0.0"/>
      <geometry>
        <sphere radius="0.03"/>
      </geometry>
      <material name="Grey">
     </material>
    </visual>
    <collision>
      <origin rpy="0 0 0" xyz="0.0 0.0 0.0"/>
      <geometry>
        <sphere radius="0.03"/>
      </geometry>
    </collision>
  </link>
  <gazebo reference="omni_sphere5_right_front">
    <material>Gazebo/Grey</material>
    <turnGravityOff>false</turnGravityOff>
  </gazebo>
  <joint name="omni_sphere5_joint_left_rear" type="continuous">
    <parent link="wheel_left_rear"/>
    <child link="omni_sphere5_left_rear"/>
    <axis xyz="0 1 0"/>
    <origin rpy="2.0944 0 0" xyz="0.0 -0.015 0.026"/>
    <dynamics damping="0.01" friction="0.0"/>
    <limit effort="0.5" velocity="0.05"/>
  </joint>
  <link name="omni_sphere5_left_rear">
    <inertial>
      <origin rpy="0 0 0" xyz="0.0 0.0 0.0"/>
      <mass value="0.05"/>
      <inertia ixx="0.000018" ixy="0" ixz="0" iyy="0.000018" iyz="0" izz="0.000018"/>
    </inertial>
    <visual>
      <origin rpy="0 0 0" xyz="0.0 0.0 0.0"/>
      <geometry>
        <sphere radius="0.03"/>
      </geometry>
      <material name="Grey">
     </material>
    </visual>
    <collision>
      <origin rpy="0 0 0" xyz="0.0 0.0 0.0"/>
      <geometry>
        <sphere radius="0.03"/>
      </geometry>
    </collision>
  </link>
  <gazebo reference="omni_sphere5_left_rear">
    <material>Gazebo/Grey</material>
    <turnGravityOff>false</turnGravityOff>
  </gazebo>
  <joint name="omni_sphere5_joint_right_rear" type="continuous">
    <parent link="wheel_right_rear"/>
    <child link="omni_sphere5_right_rear"/>
    <axis xyz="0 1 0"/>
    <origin rpy="2.0944 0 0" xyz="0.0 -0.015 0.026"/>
    <dynamics damping="0.01" friction="0.0"/>
    <limit effort="0.5" velocity="0.05"/>
  </joint>
  <link name="omni_sphere5_right_rear">
    <inertial>
      <origin rpy="0 0 0" xyz="0.0 0.0 0.0"/>
      <mass value="0.05"/>
      <inertia ixx="0.000018" ixy="0" ixz="0" iyy="0.000018" iyz="0" izz="0.000018"/>
    </inertial>
    <visual>
      <origin rpy="0 0 0" xyz="0.0 0.0 0.0"/>
      <geometry>
        <sphere radius="0.03"/>
      </geometry>
      <material name="Grey">
     </material>
    </visual>
    <collision>
      <origin rpy="0 0 0" xyz="0.0 0.0 0.0"/>
      <geometry>
        <sphere radius="0.03"/>
      </geometry>
    </collision>
  </link>
  <gazebo reference="omni_sphere5_right_rear">
    <material>Gazebo/Grey</material>
    <turnGravityOff>false</turnGravityOff>
  </gazebo>
  <joint name="omni_sphere6_joint_left_front" type="continuous">
    <parent link="wheel_left_front"/>
    <child link="omni_sphere6_left_front"/>
    <axis xyz="0 1 0"/>
    <origin rpy="2.618 0 0" xyz="0.0 -0.026 0.015"/>
    <dynamics damping="0.01" friction="0.0"/>
    <limit effort="0.5" velocity="0.05"/>
  </joint>
  <link name="omni_sphere6_left_front">
    <inertial>
      <origin rpy="0 0 0" xyz="0.0 0.0 0.0"/>
      <mass value="0.05"/>
      <inertia ixx="0.000018" ixy="0" ixz="0" iyy="0.000018" iyz="0" izz="0.000018"/>
    </inertial>
    <visual>
      <origin rpy="0 0 0" xyz="0.0 0.0 0.0"/>
      <geometry>
        <sphere radius="0.03"/>
      </geometry>
      <material name="Grey">
     </material>
    </visual>
    <collision>
      <origin rpy="0 0 0" xyz="0.0 0.0 0.0"/>
      <geometry>
        <sphere radius="0.03"/>
      </geometry>
    </collision>
  </link>
  <gazebo reference="omni_sphere6_left_front">
    <material>Gazebo/Grey</material>
    <turnGravityOff>false</turnGravityOff>
  </gazebo>
  <joint name="omni_sphere6_joint_right_front" type="continuous">
    <parent link="wheel_right_front"/>
    <child link="omni_sphere6_right_front"/>
    <axis xyz="0 1 0"/>
    <origin rpy="2.618 0 0" xyz="0.0 -0.026 0.015"/>
    <dynamics damping="0.01" friction="0.0"/>
    <limit effort="0.5" velocity="0.05"/>
  </joint>
  <link name="omni_sphere6_right_front">
    <inertial>
      <origin rpy="0 0 0" xyz="0.0 0.0 0.0"/>
      <mass value="0.05"/>
      <inertia ixx="0.000018" ixy="0" ixz="0" iyy="0.000018" iyz="0" izz="0.000018"/>
    </inertial>
    <visual>
      <origin rpy="0 0 0" xyz="0.0 0.0 0.0"/>
      <geometry>
        <sphere radius="0.03"/>
      </geometry>
      <material name="Grey">
     </material>
    </visual>
    <collision>
      <origin rpy="0 0 0" xyz="0.0 0.0 0.0"/>
      <geometry>
        <sphere radius="0.03"/>
      </geometry>
    </collision>
  </link>
  <gazebo reference="omni_sphere6_right_front">
    <material>Gazebo/Grey</material>
    <turnGravityOff>false</turnGravityOff>
  </gazebo>
  <joint name="omni_sphere6_joint_left_rear" type="continuous">
    <parent link="wheel_left_rear"/>
    <child link="omni_sphere6_left_rear"/>
    <axis xyz="0 1 0"/>
    <origin rpy="2.618 0 0" xyz="0.0 -0.026 0.015"/>
    <dynamics damping="0.01" friction="0.0"/>
    <limit effort="0.5" velocity="0.05"/>
  </joint>
  <link name="omni_sphere6_left_rear">
    <inertial>
      <origin rpy="0 0 0" xyz="0.0 0.0 0.0"/>
      <mass value="0.05"/>
      <inertia ixx="0.000018" ixy="0" ixz="0" iyy="0.000018" iyz="0" izz="0.000018"/>
    </inertial>
    <visual>
      <origin rpy="0 0 0" xyz="0.0 0.0 0.0"/>
      <geometry>
        <sphere radius="0.03"/>
      </geometry>
      <material name="Grey">
     </material>
    </visual>
    <collision>
      <origin rpy="0 0 0" xyz="0.0 0.0 0.0"/>
      <geometry>
        <sphere radius="0.03"/>
      </geometry>
    </collision>
  </link>
  <gazebo reference="omni_sphere6_left_rear">
    <material>Gazebo/Grey</material>
    <turnGravityOff>false</turnGravityOff>
  </gazebo>
  <joint name="omni_sphere6_joint_right_rear" type="continuous">
    <parent link="wheel_right_rear"/>
    <child link="omni_sphere6_right_rear"/>
    <axis xyz="0 1 0"/>
    <origin rpy="2.618 0 0" xyz="0.0 -0.026 0.015"/>
    <dynamics damping="0.01" friction="0.0"/>
    <limit effort="0.5" velocity="0.05"/>
  </joint>
  <link name="omni_sphere6_right_rear">
    <inertial>
      <origin rpy="0 0 0" xyz="0.0 0.0 0.0"/>
      <mass value="0.05"/>
      <inertia ixx="0.000018" ixy="0" ixz="0" iyy="0.000018" iyz="0" izz="0.000018"/>
    </inertial>
    <visual>
      <origin rpy="0 0 0" xyz="0.0 0.0 0.0"/>
      <geometry>
        <sphere radius="0.03"/>
      </geometry>
      <material name="Grey">
     </material>
    </visual>
    <collision>
      <origin rpy="0 0 0" xyz="0.0 0.0 0.0"/>
      <geometry>
        <sphere radius="0.03"/>
      </geometry>
    </collision>
  </link>
  <gazebo reference="omni_sphere6_right_rear">
    <material>Gazebo/Grey</material>
    <turnGravityOff>false</turnGravityOff>
  </gazebo>
  <joint name="omni_sphere7_joint_left_front" type="continuous">
    <parent link="wheel_left_front"/>
    <child link="omni_sphere7_left_front"/>
    <axis xyz="0 1 0"/>
    <origin rpy="3.1416 0 0" xyz="0.0 -0.03 0.0"/>
    <dynamics damping="0.01" friction="0.0"/>
    <limit effort="0.5" velocity="0.05"/>
  </joint>
  <link name="omni_sphere7_left_front">
    <inertial>
      <origin rpy="0 0 0" xyz="0.0 0.0 0.0"/>
      <mass value="0.05"/>
      <inertia ixx="0.000018" ixy="0" ixz="0" iyy="0.000018" iyz="0" izz="0.000018"/>
    </inertial>
    <visual>
      <origin rpy="0 0 0" xyz="0.0 0.0 0.0"/>
      <geometry>
        <sphere radius="0.03"/>
      </geometry>
      <material name="Grey">
     </material>
    </visual>
    <collision>
      <origin rpy="0 0 0" xyz="0.0 0.0 0.0"/>
      <geometry>
        <sphere radius="0.03"/>
      </geometry>
    </collision>
  </link>
  <gazebo reference="omni_sphere7_left_front">
    <material>Gazebo/Grey</material>
    <turnGravityOff>false</turnGravityOff>
  </gazebo>
  <joint name="omni_sphere7_joint_right_front" type="continuous">
    <parent link="wheel_right_front"/>
    <child link="omni_sphere7_right_front"/>
    <axis xyz="0 1 0"/>
    <origin rpy="3.1416 0 0" xyz="0.0 -0.03 0.0"/>
    <dynamics damping="0.01" friction="0.0"/>
    <limit effort="0.5" velocity="0.05"/>
  </joint>
  <link name="omni_sphere7_right_front">
    <inertial>
      <origin rpy="0 0 0" xyz="0.0 0.0 0.0"/>
      <mass value="0.05"/>
      <inertia ixx="0.000018" ixy="0" ixz="0" iyy="0.000018" iyz="0" izz="0.000018"/>
    </inertial>
    <visual>
      <origin rpy="0 0 0" xyz="0.0 0.0 0.0"/>
      <geometry>
        <sphere radius="0.03"/>
      </geometry>
      <material name="Grey">
     </material>
    </visual>
    <collision>
      <origin rpy="0 0 0" xyz="0.0 0.0 0.0"/>
      <geometry>
        <sphere radius="0.03"/>
      </geometry>
    </collision>
  </link>
  <gazebo reference="omni_sphere7_right_front">
    <material>Gazebo/Grey</material>
    <turnGravityOff>false</turnGravityOff>
  </gazebo>
  <joint name="omni_sphere7_joint_left_rear" type="continuous">
    <parent link="wheel_left_rear"/>
    <child link="omni_sphere7_left_rear"/>
    <axis xyz="0 1 0"/>
    <origin rpy="3.1416 0 0" xyz="0.0 -0.03 0.0"/>
    <dynamics damping="0.01" friction="0.0"/>
    <limit effort="0.5" velocity="0.05"/>
  </joint>
  <link name="omni_sphere7_left_rear">
    <inertial>
      <origin rpy="0 0 0" xyz="0.0 0.0 0.0"/>
      <mass value="0.05"/>
      <inertia ixx="0.000018" ixy="0" ixz="0" iyy="0.000018" iyz="0" izz="0.000018"/>
    </inertial>
    <visual>
      <origin rpy="0 0 0" xyz="0.0 0.0 0.0"/>
      <geometry>
        <sphere radius="0.03"/>
      </geometry>
      <material name="Grey">
     </material>
    </visual>
    <collision>
      <origin rpy="0 0 0" xyz="0.0 0.0 0.0"/>
      <geometry>
        <sphere radius="0.03"/>
      </geometry>
    </collision>
  </link>
  <gazebo reference="omni_sphere7_left_rear">
    <material>Gazebo/Grey</material>
    <turnGravityOff>false</turnGravityOff>
  </gazebo>
  <joint name="omni_sphere7_joint_right_rear" type="continuous">
    <parent link="wheel_right_rear"/>
    <child link="omni_sphere7_right_rear"/>
    <axis xyz="0 1 0"/>
    <origin rpy="3.1416 0 0" xyz="0.0 -0.03 0.0"/>
    <dynamics damping="0.01" friction="0.0"/>
    <limit effort="0.5" velocity="0.05"/>
  </joint>
  <link name="omni_sphere7_right_rear">
    <inertial>
      <origin rpy="0 0 0" xyz="0.0 0.0 0.0"/>
      <mass value="0.05"/>
      <inertia ixx="0.000018" ixy="0" ixz="0" iyy="0.000018" iyz="0" izz="0.000018"/>
    </inertial>
    <visual>
      <origin rpy="0 0 0" xyz="0.0 0.0 0.0"/>
      <geometry>
        <sphere radius="0.03"/>
      </geometry>
      <material name="Grey">
     </material>
    </visual>
    <collision>
      <origin rpy="0 0 0" xyz="0.0 0.0 0.0"/>
      <geometry>
        <sphere radius="0.03"/>
      </geometry>
    </collision>
  </link>
  <gazebo reference="omni_sphere7_right_rear">
    <material>Gazebo/Grey</material>
    <turnGravityOff>false</turnGravityOff>
  </gazebo>
  <joint name="omni_sphere8_joint_left_front" type="continuous">
    <parent link="wheel_left_front"/>
    <child link="omni_sphere8_left_front"/>
    <axis xyz="0 1 0"/>
    <origin rpy="3.6652 0 0" xyz="0.0 -0.026 -0.015"/>
    <dynamics damping="0.01" friction="0.0"/>
    <limit effort="0.5" velocity="0.05"/>
  </joint>
  <link name="omni_sphere8_left_front">
    <inertial>
      <origin rpy="0 0 0" xyz="0.0 0.0 0.0"/>
      <mass value="0.05"/>
      <inertia ixx="0.000018" ixy="0" ixz="0" iyy="0.000018" iyz="0" izz="0.000018"/>
    </inertial>
    <visual>
      <origin rpy="0 0 0" xyz="0.0 0.0 0.0"/>
      <geometry>
        <sphere radius="0.03"/>
      </geometry>
      <material name="Grey">
     </material>
    </visual>
    <collision>
      <origin rpy="0 0 0" xyz="0.0 0.0 0.0"/>
      <geometry>
        <sphere radius="0.03"/>
      </geometry>
    </collision>
  </link>
  <gazebo reference="omni_sphere8_left_front">
    <material>Gazebo/Grey</material>
    <turnGravityOff>false</turnGravityOff>
  </gazebo>
  <joint name="omni_sphere8_joint_right_front" type="continuous">
    <parent link="wheel_right_front"/>
    <child link="omni_sphere8_right_front"/>
    <axis xyz="0 1 0"/>
    <origin rpy="3.6652 0 0" xyz="0.0 -0.026 -0.015"/>
    <dynamics damping="0.01" friction="0.0"/>
    <limit effort="0.5" velocity="0.05"/>
  </joint>
  <link name="omni_sphere8_right_front">
    <inertial>
      <origin rpy="0 0 0" xyz="0.0 0.0 0.0"/>
      <mass value="0.05"/>
      <inertia ixx="0.000018" ixy="0" ixz="0" iyy="0.000018" iyz="0" izz="0.000018"/>
    </inertial>
    <visual>
      <origin rpy="0 0 0" xyz="0.0 0.0 0.0"/>
      <geometry>
        <sphere radius="0.03"/>
      </geometry>
      <material name="Grey">
     </material>
    </visual>
    <collision>
      <origin rpy="0 0 0" xyz="0.0 0.0 0.0"/>
      <geometry>
        <sphere radius="0.03"/>
      </geometry>
    </collision>
  </link>
  <gazebo reference="omni_sphere8_right_front">
    <material>Gazebo/Grey</material>
    <turnGravityOff>false</turnGravityOff>
  </gazebo>
  <joint name="omni_sphere8_joint_left_rear" type="continuous">
    <parent link="wheel_left_rear"/>
    <child link="omni_sphere8_left_rear"/>
    <axis xyz="0 1 0"/>
    <origin rpy="3.6652 0 0" xyz="0.0 -0.026 -0.015"/>
    <dynamics damping="0.01" friction="0.0"/>
    <limit effort="0.5" velocity="0.05"/>
  </joint>
  <link name="omni_sphere8_left_rear">
    <inertial>
      <origin rpy="0 0 0" xyz="0.0 0.0 0.0"/>
      <mass value="0.05"/>
      <inertia ixx="0.000018" ixy="0" ixz="0" iyy="0.000018" iyz="0" izz="0.000018"/>
    </inertial>
    <visual>
      <origin rpy="0 0 0" xyz="0.0 0.0 0.0"/>
      <geometry>
        <sphere radius="0.03"/>
      </geometry>
      <material name="Grey">
     </material>
    </visual>
    <collision>
      <origin rpy="0 0 0" xyz="0.0 0.0 0.0"/>
      <geometry>
        <sphere radius="0.03"/>
      </geometry>
    </collision>
  </link>
  <gazebo reference="omni_sphere8_left_rear">
    <material>Gazebo/Grey</material>
    <turnGravityOff>false</turnGravityOff>
  </gazebo>
  <joint name="omni_sphere8_joint_right_rear" type="continuous">
    <parent link="wheel_right_rear"/>
    <child link="omni_sphere8_right_rear"/>
    <axis xyz="0 1 0"/>
    <origin rpy="3.6652 0 0" xyz="0.0 -0.026 -0.015"/>
    <dynamics damping="0.01" friction="0.0"/>
    <limit effort="0.5" velocity="0.05"/>
  </joint>
  <link name="omni_sphere8_right_rear">
    <inertial>
      <origin rpy="0 0 0" xyz="0.0 0.0 0.0"/>
      <mass value="0.05"/>
      <inertia ixx="0.000018" ixy="0" ixz="0" iyy="0.000018" iyz="0" izz="0.000018"/>
    </inertial>
    <visual>
      <origin rpy="0 0 0" xyz="0.0 0.0 0.0"/>
      <geometry>
        <sphere radius="0.03"/>
      </geometry>
      <material name="Grey">
     </material>
    </visual>
    <collision>
      <origin rpy="0 0 0" xyz="0.0 0.0 0.0"/>
      <geometry>
        <sphere radius="0.03"/>
      </geometry>
    </collision>
  </link>
  <gazebo reference="omni_sphere8_right_rear">
    <material>Gazebo/Grey</material>
    <turnGravityOff>false</turnGravityOff>
  </gazebo>
  <joint name="omni_sphere9_joint_left_front" type="continuous">
    <parent link="wheel_left_front"/>
    <child link="omni_sphere9_left_front"/>
    <axis xyz="0 1 0"/>
    <origin rpy="4.1888 0 0" xyz="0.0 -0.015 -0.026"/>
    <dynamics damping="0.01" friction="0.0"/>
    <limit effort="0.5" velocity="0.05"/>
  </joint>
  <link name="omni_sphere9_left_front">
    <inertial>
      <origin rpy="0 0 0" xyz="0.0 0.0 0.0"/>
      <mass value="0.05"/>
      <inertia ixx="0.000018" ixy="0" ixz="0" iyy="0.000018" iyz="0" izz="0.000018"/>
    </inertial>
    <visual>
      <origin rpy="0 0 0" xyz="0.0 0.0 0.0"/>
      <geometry>
        <sphere radius="0.03"/>
      </geometry>
      <material name="Grey">
     </material>
    </visual>
    <collision>
      <origin rpy="0 0 0" xyz="0.0 0.0 0.0"/>
      <geometry>
        <sphere radius="0.03"/>
      </geometry>
    </collision>
  </link>
  <gazebo reference="omni_sphere9_left_front">
    <material>Gazebo/Grey</material>
    <turnGravityOff>false</turnGravityOff>
  </gazebo>
  <joint name="omni_sphere9_joint_right_front" type="continuous">
    <parent link="wheel_right_front"/>
    <child link="omni_sphere9_right_front"/>
    <axis xyz="0 1 0"/>
    <origin rpy="4.1888 0 0" xyz="0.0 -0.015 -0.026"/>
    <dynamics damping="0.01" friction="0.0"/>
    <limit effort="0.5" velocity="0.05"/>
  </joint>
  <link name="omni_sphere9_right_front">
    <inertial>
      <origin rpy="0 0 0" xyz="0.0 0.0 0.0"/>
      <mass value="0.05"/>
      <inertia ixx="0.000018" ixy="0" ixz="0" iyy="0.000018" iyz="0" izz="0.000018"/>
    </inertial>
    <visual>
      <origin rpy="0 0 0" xyz="0.0 0.0 0.0"/>
      <geometry>
        <sphere radius="0.03"/>
      </geometry>
      <material name="Grey">
     </material>
    </visual>
    <collision>
      <origin rpy="0 0 0" xyz="0.0 0.0 0.0"/>
      <geometry>
        <sphere radius="0.03"/>
      </geometry>
    </collision>
  </link>
  <gazebo reference="omni_sphere9_right_front">
    <material>Gazebo/Grey</material>
    <turnGravityOff>false</turnGravityOff>
  </gazebo>
  <joint name="omni_sphere9_joint_left_rear" type="continuous">
    <parent link="wheel_left_rear"/>
    <child link="omni_sphere9_left_rear"/>
    <axis xyz="0 1 0"/>
    <origin rpy="4.1888 0 0" xyz="0.0 -0.015 -0.026"/>
    <dynamics damping="0.01" friction="0.0"/>
    <limit effort="0.5" velocity="0.05"/>
  </joint>
  <link name="omni_sphere9_left_rear">
    <inertial>
      <origin rpy="0 0 0" xyz="0.0 0.0 0.0"/>
      <mass value="0.05"/>
      <inertia ixx="0.000018" ixy="0" ixz="0" iyy="0.000018" iyz="0" izz="0.000018"/>
    </inertial>
    <visual>
      <origin rpy="0 0 0" xyz="0.0 0.0 0.0"/>
      <geometry>
        <sphere radius="0.03"/>
      </geometry>
      <material name="Grey">
     </material>
    </visual>
    <collision>
      <origin rpy="0 0 0" xyz="0.0 0.0 0.0"/>
      <geometry>
        <sphere radius="0.03"/>
      </geometry>
    </collision>
  </link>
  <gazebo reference="omni_sphere9_left_rear">
    <material>Gazebo/Grey</material>
    <turnGravityOff>false</turnGravityOff>
  </gazebo>
  <joint name="omni_sphere9_joint_right_rear" type="continuous">
    <parent link="wheel_right_rear"/>
    <child link="omni_sphere9_right_rear"/>
    <axis xyz="0 1 0"/>
    <origin rpy="4.1888 0 0" xyz="0.0 -0.015 -0.026"/>
    <dynamics damping="0.01" friction="0.0"/>
    <limit effort="0.5" velocity="0.05"/>
  </joint>
  <link name="omni_sphere9_right_rear">
    <inertial>
      <origin rpy="0 0 0" xyz="0.0 0.0 0.0"/>
      <mass value="0.05"/>
      <inertia ixx="0.000018" ixy="0" ixz="0" iyy="0.000018" iyz="0" izz="0.000018"/>
    </inertial>
    <visual>
      <origin rpy="0 0 0" xyz="0.0 0.0 0.0"/>
      <geometry>
        <sphere radius="0.03"/>
      </geometry>
      <material name="Grey">
     </material>
    </visual>
    <collision>
      <origin rpy="0 0 0" xyz="0.0 0.0 0.0"/>
      <geometry>
        <sphere radius="0.03"/>
      </geometry>
    </collision>
  </link>
  <gazebo reference="omni_sphere9_right_rear">
    <material>Gazebo/Grey</material>
    <turnGravityOff>false</turnGravityOff>
  </gazebo>
  <joint name="omni_sphere10_joint_left_front" type="continuous">
    <parent link="wheel_left_front"/>
    <child link="omni_sphere10_left_front"/>
    <axis xyz="0 1 0"/>
    <origin rpy="4.7124 0 0" xyz="0.0 0.0 -0.03"/>
    <dynamics damping="0.01" friction="0.0"/>
    <limit effort="0.5" velocity="0.05"/>
  </joint>
  <link name="omni_sphere10_left_front">
    <inertial>
      <origin rpy="0 0 0" xyz="0.0 0.0 0.0"/>
      <mass value="0.05"/>
      <inertia ixx="0.000018" ixy="0" ixz="0" iyy="0.000018" iyz="0" izz="0.000018"/>
    </inertial>
    <visual>
      <origin rpy="0 0 0" xyz="0.0 0.0 0.0"/>
      <geometry>
        <sphere radius="0.03"/>
      </geometry>
      <material name="Grey">
     </material>
    </visual>
    <collision>
      <origin rpy="0 0 0" xyz="0.0 0.0 0.0"/>
      <geometry>
        <sphere radius="0.03"/>
      </geometry>
    </collision>
  </link>
  <gazebo reference="omni_sphere10_left_front">
    <material>Gazebo/Grey</material>
    <turnGravityOff>false</turnGravityOff>
  </gazebo>
  <joint name="omni_sphere10_joint_right_front" type="continuous">
    <parent link="wheel_right_front"/>
    <child link="omni_sphere10_right_front"/>
    <axis xyz="0 1 0"/>
    <origin rpy="4.7124 0 0" xyz="0.0 0.0 -0.03"/>
    <dynamics damping="0.01" friction="0.0"/>
    <limit effort="0.5" velocity="0.05"/>
  </joint>
  <link name="omni_sphere10_right_front">
    <inertial>
      <origin rpy="0 0 0" xyz="0.0 0.0 0.0"/>
      <mass value="0.05"/>
      <inertia ixx="0.000018" ixy="0" ixz="0" iyy="0.000018" iyz="0" izz="0.000018"/>
    </inertial>
    <visual>
      <origin rpy="0 0 0" xyz="0.0 0.0 0.0"/>
      <geometry>
        <sphere radius="0.03"/>
      </geometry>
      <material name="Grey">
     </material>
    </visual>
    <collision>
      <origin rpy="0 0 0" xyz="0.0 0.0 0.0"/>
      <geometry>
        <sphere radius="0.03"/>
      </geometry>
    </collision>
  </link>
  <gazebo reference="omni_sphere10_right_front">
    <material>Gazebo/Grey</material>
    <turnGravityOff>false</turnGravityOff>
  </gazebo>
  <joint name="omni_sphere10_joint_left_rear" type="continuous">
    <parent link="wheel_left_rear"/>
    <child link="omni_sphere10_left_rear"/>
    <axis xyz="0 1 0"/>
    <origin rpy="4.7124 0 0" xyz="0.0 0.0 -0.03"/>
    <dynamics damping="0.01" friction="0.0"/>
    <limit effort="0.5" velocity="0.05"/>
  </joint>
  <link name="omni_sphere10_left_rear">
    <inertial>
      <origin rpy="0 0 0" xyz="0.0 0.0 0.0"/>
      <mass value="0.05"/>
      <inertia ixx="0.000018" ixy="0" ixz="0" iyy="0.000018" iyz="0" izz="0.000018"/>
    </inertial>
    <visual>
      <origin rpy="0 0 0" xyz="0.0 0.0 0.0"/>
      <geometry>
        <sphere radius="0.03"/>
      </geometry>
      <material name="Grey">
     </material>
    </visual>
    <collision>
      <origin rpy="0 0 0" xyz="0.0 0.0 0.0"/>
      <geometry>
        <sphere radius="0.03"/>
      </geometry>
    </collision>
  </link>
  <gazebo reference="omni_sphere10_left_rear">
    <material>Gazebo/Grey</material>
    <turnGravityOff>false</turnGravityOff>
  </gazebo>
  <joint name="omni_sphere10_joint_right_rear" type="continuous">
    <parent link="wheel_right_rear"/>
    <child link="omni_sphere10_right_rear"/>
    <axis xyz="0 1 0"/>
    <origin rpy="4.7124 0 0" xyz="0.0 0.0 -0.03"/>
    <dynamics damping="0.01" friction="0.0"/>
    <limit effort="0.5" velocity="0.05"/>
  </joint>
  <link name="omni_sphere10_right_rear">
    <inertial>
      <origin rpy="0 0 0" xyz="0.0 0.0 0.0"/>
      <mass value="0.05"/>
      <inertia ixx="0.000018" ixy="0" ixz="0" iyy="0.000018" iyz="0" izz="0.000018"/>
    </inertial>
    <visual>
      <origin rpy="0 0 0" xyz="0.0 0.0 0.0"/>
      <geometry>
        <sphere radius="0.03"/>
      </geometry>
      <material name="Grey">
     </material>
    </visual>
    <collision>
      <origin rpy="0 0 0" xyz="0.0 0.0 0.0"/>
      <geometry>
        <sphere radius="0.03"/>
      </geometry>
    </collision>
  </link>
  <gazebo reference="omni_sphere10_right_rear">
    <material>Gazebo/Grey</material>
    <turnGravityOff>false</turnGravityOff>
  </gazebo>
  <joint name="omni_sphere11_joint_left_front" type="continuous">
    <parent link="wheel_left_front"/>
    <child link="omni_sphere11_left_front"/>
    <axis xyz="0 1 0"/>
    <origin rpy="5.236 0 0" xyz="0.0 0.015 -0.026"/>
    <dynamics damping="0.01" friction="0.0"/>
    <limit effort="0.5" velocity="0.05"/>
  </joint>
  <link name="omni_sphere11_left_front">
    <inertial>
      <origin rpy="0 0 0" xyz="0.0 0.0 0.0"/>
      <mass value="0.05"/>
      <inertia ixx="0.000018" ixy="0" ixz="0" iyy="0.000018" iyz="0" izz="0.000018"/>
    </inertial>
    <visual>
      <origin rpy="0 0 0" xyz="0.0 0.0 0.0"/>
      <geometry>
        <sphere radius="0.03"/>
      </geometry>
      <material name="Grey">
     </material>
    </visual>
    <collision>
      <origin rpy="0 0 0" xyz="0.0 0.0 0.0"/>
      <geometry>
        <sphere radius="0.03"/>
      </geometry>
    </collision>
  </link>
  <gazebo reference="omni_sphere11_left_front">
    <material>Gazebo/Grey</material>
    <turnGravityOff>false</turnGravityOff>
  </gazebo>
  <joint name="omni_sphere11_joint_right_front" type="continuous">
    <parent link="wheel_right_front"/>
    <child link="omni_sphere11_right_front"/>
    <axis xyz="0 1 0"/>
    <origin rpy="5.236 0 0" xyz="0.0 0.015 -0.026"/>
    <dynamics damping="0.01" friction="0.0"/>
    <limit effort="0.5" velocity="0.05"/>
  </joint>
  <link name="omni_sphere11_right_front">
    <inertial>
      <origin rpy="0 0 0" xyz="0.0 0.0 0.0"/>
      <mass value="0.05"/>
      <inertia ixx="0.000018" ixy="0" ixz="0" iyy="0.000018" iyz="0" izz="0.000018"/>
    </inertial>
    <visual>
      <origin rpy="0 0 0" xyz="0.0 0.0 0.0"/>
      <geometry>
        <sphere radius="0.03"/>
      </geometry>
      <material name="Grey">
     </material>
    </visual>
    <collision>
      <origin rpy="0 0 0" xyz="0.0 0.0 0.0"/>
      <geometry>
        <sphere radius="0.03"/>
      </geometry>
    </collision>
  </link>
  <gazebo reference="omni_sphere11_right_front">
    <material>Gazebo/Grey</material>
    <turnGravityOff>false</turnGravityOff>
  </gazebo>
  <joint name="omni_sphere11_joint_left_rear" type="continuous">
    <parent link="wheel_left_rear"/>
    <child link="omni_sphere11_left_rear"/>
    <axis xyz="0 1 0"/>
    <origin rpy="5.236 0 0" xyz="0.0 0.015 -0.026"/>
    <dynamics damping="0.01" friction="0.0"/>
    <limit effort="0.5" velocity="0.05"/>
  </joint>
  <link name="omni_sphere11_left_rear">
    <inertial>
      <origin rpy="0 0 0" xyz="0.0 0.0 0.0"/>
      <mass value="0.05"/>
      <inertia ixx="0.000018" ixy="0" ixz="0" iyy="0.000018" iyz="0" izz="0.000018"/>
    </inertial>
    <visual>
      <origin rpy="0 0 0" xyz="0.0 0.0 0.0"/>
      <geometry>
        <sphere radius="0.03"/>
      </geometry>
      <material name="Grey">
     </material>
    </visual>
    <collision>
      <origin rpy="0 0 0" xyz="0.0 0.0 0.0"/>
      <geometry>
        <sphere radius="0.03"/>
      </geometry>
    </collision>
  </link>
  <gazebo reference="omni_sphere11_left_rear">
    <material>Gazebo/Grey</material>
    <turnGravityOff>false</turnGravityOff>
  </gazebo>
  <joint name="omni_sphere11_joint_right_rear" type="continuous">
    <parent link="wheel_right_rear"/>
    <child link="omni_sphere11_right_rear"/>
    <axis xyz="0 1 0"/>
    <origin rpy="5.236 0 0" xyz="0.0 0.015 -0.026"/>
    <dynamics damping="0.01" friction="0.0"/>
    <limit effort="0.5" velocity="0.05"/>
  </joint>
  <link name="omni_sphere11_right_rear">
    <inertial>
      <origin rpy="0 0 0" xyz="0.0 0.0 0.0"/>
      <mass value="0.05"/>
      <inertia ixx="0.000018" ixy="0" ixz="0" iyy="0.000018" iyz="0" izz="0.000018"/>
    </inertial>
    <visual>
      <origin rpy="0 0 0" xyz="0.0 0.0 0.0"/>
      <geometry>
        <sphere radius="0.03"/>
      </geometry>
      <material name="Grey">
     </material>
    </visual>
    <collision>
      <origin rpy="0 0 0" xyz="0.0 0.0 0.0"/>
      <geometry>
        <sphere radius="0.03"/>
      </geometry>
    </collision>
  </link>
  <gazebo reference="omni_sphere11_right_rear">
    <material>Gazebo/Grey</material>
    <turnGravityOff>false</turnGravityOff>
  </gazebo>
  <joint name="omni_sphere12_joint_left_front" type="continuous">
    <parent link="wheel_left_front"/>
    <child link="omni_sphere12_left_front"/>
    <axis xyz="0 1 0"/>
    <origin rpy="5.7596 0 0" xyz="0.0 0.026 -0.015"/>
    <dynamics damping="0.01" friction="0.0"/>
    <limit effort="0.5" velocity="0.05"/>
  </joint>
  <link name="omni_sphere12_left_front">
    <inertial>
      <origin rpy="0 0 0" xyz="0.0 0.0 0.0"/>
      <mass value="0.05"/>
      <inertia ixx="0.000018" ixy="0" ixz="0" iyy="0.000018" iyz="0" izz="0.000018"/>
    </inertial>
    <visual>
      <origin rpy="0 0 0" xyz="0.0 0.0 0.0"/>
      <geometry>
        <sphere radius="0.03"/>
      </geometry>
      <material name="Grey">
     </material>
    </visual>
    <collision>
      <origin rpy="0 0 0" xyz="0.0 0.0 0.0"/>
      <geometry>
        <sphere radius="0.03"/>
      </geometry>
    </collision>
  </link>
  <gazebo reference="omni_sphere12_left_front">
    <material>Gazebo/Grey</material>
    <turnGravityOff>false</turnGravityOff>
  </gazebo>
  <joint name="omni_sphere12_joint_right_front" type="continuous">
    <parent link="wheel_right_front"/>
    <child link="omni_sphere12_right_front"/>
    <axis xyz="0 1 0"/>
    <origin rpy="5.7596 0 0" xyz="0.0 0.026 -0.015"/>
    <dynamics damping="0.01" friction="0.0"/>
    <limit effort="0.5" velocity="0.05"/>
  </joint>
  <link name="omni_sphere12_right_front">
    <inertial>
      <origin rpy="0 0 0" xyz="0.0 0.0 0.0"/>
      <mass value="0.05"/>
      <inertia ixx="0.000018" ixy="0" ixz="0" iyy="0.000018" iyz="0" izz="0.000018"/>
    </inertial>
    <visual>
      <origin rpy="0 0 0" xyz="0.0 0.0 0.0"/>
      <geometry>
        <sphere radius="0.03"/>
      </geometry>
      <material name="Grey">
     </material>
    </visual>
    <collision>
      <origin rpy="0 0 0" xyz="0.0 0.0 0.0"/>
      <geometry>
        <sphere radius="0.03"/>
      </geometry>
    </collision>
  </link>
  <gazebo reference="omni_sphere12_right_front">
    <material>Gazebo/Grey</material>
    <turnGravityOff>false</turnGravityOff>
  </gazebo>
  <joint name="omni_sphere12_joint_left_rear" type="continuous">
    <parent link="wheel_left_rear"/>
    <child link="omni_sphere12_left_rear"/>
    <axis xyz="0 1 0"/>
    <origin rpy="5.7596 0 0" xyz="0.0 0.026 -0.015"/>
    <dynamics damping="0.01" friction="0.0"/>
    <limit effort="0.5" velocity="0.05"/>
  </joint>
  <link name="omni_sphere12_left_rear">
    <inertial>
      <origin rpy="0 0 0" xyz="0.0 0.0 0.0"/>
      <mass value="0.05"/>
      <inertia ixx="0.000018" ixy="0" ixz="0" iyy="0.000018" iyz="0" izz="0.000018"/>
    </inertial>
    <visual>
      <origin rpy="0 0 0" xyz="0.0 0.0 0.0"/>
      <geometry>
        <sphere radius="0.03"/>
      </geometry>
      <material name="Grey">
     </material>
    </visual>
    <collision>
      <origin rpy="0 0 0" xyz="0.0 0.0 0.0"/>
      <geometry>
        <sphere radius="0.03"/>
      </geometry>
    </collision>
  </link>
  <gazebo reference="omni_sphere12_left_rear">
    <material>Gazebo/Grey</material>
    <turnGravityOff>false</turnGravityOff>
  </gazebo>
  <joint name="omni_sphere12_joint_right_rear" type="continuous">
    <parent link="wheel_right_rear"/>
    <child link="omni_sphere12_right_rear"/>
    <axis xyz="0 1 0"/>
    <origin rpy="5.7596 0 0" xyz="0.0 0.026 -0.015"/>
    <dynamics damping="0.01" friction="0.0"/>
    <limit effort="0.5" velocity="0.05"/>
  </joint>
  <link name="omni_sphere12_right_rear">
    <inertial>
      <origin rpy="0 0 0" xyz="0.0 0.0 0.0"/>
      <mass value="0.05"/>
      <inertia ixx="0.000018" ixy="0" ixz="0" iyy="0.000018" iyz="0" izz="0.000018"/>
    </inertial>
    <visual>
      <origin rpy="0 0 0" xyz="0.0 0.0 0.0"/>
      <geometry>
        <sphere radius="0.03"/>
      </geometry>
      <material name="Grey">
     </material>
    </visual>
    <collision>
      <origin rpy="0 0 0" xyz="0.0 0.0 0.0"/>
      <geometry>
        <sphere radius="0.03"/>
      </geometry>
    </collision>
  </link>
  <gazebo reference="omni_sphere12_right_rear">
    <material>Gazebo/Grey</material>
    <turnGravityOff>false</turnGravityOff>
  </gazebo>
  <joint name="wheel_inner_joint_left_front" type="continuous">
    <parent link="base"/>
    <child link="wheel_left_front"/>
    <axis xyz="1 0 0"/>
    <origin rpy="0 0 2.3562" xyz="-0.2 +0.2 0.005"/>
    <dynamics damping="1" friction="0.0"/>
    <limit effort="5.0" velocity="5.0"/>
  </joint>
  <link name="wheel_left_front">
    <inertial>
      <origin rpy="0 0 0" xyz="0.0 0.0 0.0"/>
      <mass value="0.5"/>
      <inertia ixx="0.0006" ixy="0" ixz="0" iyy="0.0006" iyz="0" izz="0.0006"/>
    </inertial>
    <visual>
      <origin rpy="0 1.5708 0" xyz="0.0 0.0 0.0"/>
      <geometry>
        <cylinder length="0.05" radius="0.05"/>
      </geometry>
      <material name="Grey">
     </material>
    </visual>
    <collision>
      <origin rpy="0 1.5708 0" xyz="0.0 0.0 0.0"/>
      <geometry>
        <cylinder length="0.05" radius="0.05"/>
      </geometry>
    </collision>
  </link>
  <gazebo reference="wheel_left_front">
    <material>Gazebo/Grey</material>
    <turnGravityOff>false</turnGravityOff>
  </gazebo>
  <joint name="wheel_inner_joint_right_front" type="continuous">
    <parent link="base"/>
    <child link="wheel_right_front"/>
    <axis xyz="1 0 0"/>
    <origin rpy="0 0 0.7854" xyz="+0.2 +0.2 0.005"/>
    <dynamics damping="1" friction="0.0"/>
    <limit effort="5.0" velocity="5.0"/>
  </joint>
  <link name="wheel_right_front">
    <inertial>
      <origin rpy="0 0 0" xyz="0.0 0.0 0.0"/>
      <mass value="0.5"/>
      <inertia ixx="0.0006" ixy="0" ixz="0" iyy="0.0006" iyz="0" izz="0.0006"/>
    </inertial>
    <visual>
      <origin rpy="0 1.5708 0" xyz="0.0 0.0 0.0"/>
      <geometry>
        <cylinder length="0.05" radius="0.05"/>
      </geometry>
      <material name="Grey">
     </material>
    </visual>
    <collision>
      <origin rpy="0 1.5708 0" xyz="0.0 0.0 0.0"/>
      <geometry>
        <cylinder length="0.05" radius="0.05"/>
      </geometry>
    </collision>
  </link>
  <gazebo reference="wheel_right_front">
    <material>Gazebo/Grey</material>
    <turnGravityOff>false</turnGravityOff>
  </gazebo>
  <joint name="wheel_inner_joint_left_rear" type="continuous">
    <parent link="base"/>
    <child link="wheel_left_rear"/>
    <axis xyz="1 0 0"/>
    <origin rpy="0 0 -2.3562" xyz="-0.2 -0.2 0.005"/>
    <dynamics damping="1" friction="0.0"/>
    <limit effort="5.0" velocity="5.0"/>
  </joint>
  <link name="wheel_left_rear">
    <inertial>
      <origin rpy="0 0 0" xyz="0.0 0.0 0.0"/>
      <mass value="0.5"/>
      <inertia ixx="0.0006" ixy="0" ixz="0" iyy="0.0006" iyz="0" izz="0.0006"/>
    </inertial>
    <visual>
      <origin rpy="0 1.5708 0" xyz="0.0 0.0 0.0"/>
      <geometry>
        <cylinder length="0.05" radius="0.05"/>
      </geometry>
      <material name="Grey">
     </material>
    </visual>
    <collision>
      <origin rpy="0 1.5708 0" xyz="0.0 0.0 0.0"/>
      <geometry>
        <cylinder length="0.05" radius="0.05"/>
      </geometry>
    </collision>
  </link>
  <gazebo reference="wheel_left_rear">
    <material>Gazebo/Grey</material>
    <turnGravityOff>false</turnGravityOff>
  </gazebo>
  <joint name="wheel_inner_joint_right_rear" type="continuous">
    <parent link="base"/>
    <child link="wheel_right_rear"/>
    <axis xyz="1 0 0"/>
    <origin rpy="0 0 -0.7854" xyz="+0.2 -0.2 0.005"/>
    <dynamics damping="1" friction="0.0"/>
    <limit effort="5.0" velocity="5.0"/>
  </joint>
  <link name="wheel_right_rear">
    <inertial>
      <origin rpy="0 0 0" xyz="0.0 0.0 0.0"/>
      <mass value="0.5"/>
      <inertia ixx="0.0006" ixy="0" ixz="0" iyy="0.0006" iyz="0" izz="0.0006"/>
    </inertial>
    <visual>
      <origin rpy="0 1.5708 0" xyz="0.0 0.0 0.0"/>
      <geometry>
        <cylinder length="0.05" radius="0.05"/>
      </geometry>
      <material name="Grey">
     </material>
    </visual>
    <collision>
      <origin rpy="0 1.5708 0" xyz="0.0 0.0 0.0"/>
      <geometry>
        <cylinder length="0.05" radius="0.05"/>
      </geometry>
    </collision>
  </link>
  <gazebo reference="wheel_right_rear">
    <material>Gazebo/Grey</material>
    <turnGravityOff>false</turnGravityOff>
  </gazebo>
  <transmission name="spindle_trans" type="pr2_mechanism_model/SimpleTransmission">
    <actuator name="spindle_motor"/>
    <joint name="spindle_joint"/>
    <mechanicalReduction>1</mechanicalReduction>
    <motorTorqueConstant>1</motorTorqueConstant>
  </transmission>
  <transmission name="shoulder_yaw_trans_left" type="pr2_mechanism_model/SimpleTransmission">
    <actuator name="shoulder_yaw_motor_left"/>
    <joint name="shoulder_yaw_joint_left"/>
    <mechanicalReduction>1</mechanicalReduction>
    <motorTorqueConstant>1</motorTorqueConstant>
  </transmission>
  <transmission name="shoulder_pitch_trans_left" type="pr2_mechanism_model/SimpleTransmission">
    <actuator name="shoulder_pitch_motor_left"/>
    <joint name="shoulder_pitch_joint_left"/>
    <mechanicalReduction>1</mechanicalReduction>
    <motorTorqueConstant>1</motorTorqueConstant>
  </transmission>
  <transmission name="shoulder_roll_trans_left" type="pr2_mechanism_model/SimpleTransmission">
    <actuator name="shoulder_roll_motor_left"/>
    <joint name="shoulder_roll_joint_left"/>
    <mechanicalReduction>1</mechanicalReduction>
    <motorTorqueConstant>1</motorTorqueConstant>
  </transmission>
  <transmission name="elbow_pitch_trans_left" type="pr2_mechanism_model/SimpleTransmission">
    <actuator name="elbow_pitch_motor_left"/>
    <joint name="elbow_pitch_joint_left"/>
    <mechanicalReduction>1</mechanicalReduction>
    <motorTorqueConstant>1</motorTorqueConstant>
  </transmission>
  <transmission name="elbow_roll_trans_left" type="pr2_mechanism_model/SimpleTransmission">
    <actuator name="elbow_roll_motor_left"/>
    <joint name="elbow_roll_joint_left"/>
    <mechanicalReduction>1</mechanicalReduction>
    <motorTorqueConstant>1</motorTorqueConstant>
  </transmission>
  <transmission name="wrist_yaw_trans_left" type="pr2_mechanism_model/SimpleTransmission">
    <actuator name="wrist_yaw_motor_left"/>
    <joint name="wrist_yaw_joint_left"/>
    <mechanicalReduction>1</mechanicalReduction>
    <motorTorqueConstant>1</motorTorqueConstant>
  </transmission>
  <transmission name="wrist_pitch_trans_left" type="pr2_mechanism_model/SimpleTransmission">
    <actuator name="wrist_pitch_motor_left"/>
    <joint name="wrist_pitch_joint_left"/>
    <mechanicalReduction>1</mechanicalReduction>
    <motorTorqueConstant>1</motorTorqueConstant>
  </transmission>
  <transmission name="finger1_trans_left" type="pr2_mechanism_model/SimpleTransmission">
    <actuator name="finger1_motor_left"/>
    <joint name="finger1_joint_left"/>
    <mechanicalReduction>1</mechanicalReduction>
    <motorTorqueConstant>1</motorTorqueConstant>
  </transmission>
  <transmission name="finger2_trans_left" type="pr2_mechanism_model/SimpleTransmission">
    <actuator name="finger2_motor_left"/>
    <joint name="finger2_joint_left"/>
    <mechanicalReduction>1</mechanicalReduction>
    <motorTorqueConstant>1</motorTorqueConstant>
  </transmission>
  <transmission name="shoulder_yaw_trans_right" type="pr2_mechanism_model/SimpleTransmission">
    <actuator name="shoulder_yaw_motor_right"/>
    <joint name="shoulder_yaw_joint_right"/>
    <mechanicalReduction>1</mechanicalReduction>
    <motorTorqueConstant>1</motorTorqueConstant>
  </transmission>
  <transmission name="shoulder_pitch_trans_right" type="pr2_mechanism_model/SimpleTransmission">
    <actuator name="shoulder_pitch_motor_right"/>
    <joint name="shoulder_pitch_joint_right"/>
    <mechanicalReduction>1</mechanicalReduction>
    <motorTorqueConstant>1</motorTorqueConstant>
  </transmission>
  <transmission name="shoulder_roll_trans_right" type="pr2_mechanism_model/SimpleTransmission">
    <actuator name="shoulder_roll_motor_right"/>
    <joint name="shoulder_roll_joint_right"/>
    <mechanicalReduction>1</mechanicalReduction>
    <motorTorqueConstant>1</motorTorqueConstant>
  </transmission>
  <transmission name="elbow_pitch_trans_right" type="pr2_mechanism_model/SimpleTransmission">
    <actuator name="elbow_pitch_motor_right"/>
    <joint name="elbow_pitch_joint_right"/>
    <mechanicalReduction>1</mechanicalReduction>
    <motorTorqueConstant>1</motorTorqueConstant>
  </transmission>
  <transmission name="elbow_roll_trans_right" type="pr2_mechanism_model/SimpleTransmission">
    <actuator name="elbow_roll_motor_right"/>
    <joint name="elbow_roll_joint_right"/>
    <mechanicalReduction>1</mechanicalReduction>
    <motorTorqueConstant>1</motorTorqueConstant>
  </transmission>
  <transmission name="wrist_yaw_trans_right" type="pr2_mechanism_model/SimpleTransmission">
    <actuator name="wrist_yaw_motor_right"/>
    <joint name="wrist_yaw_joint_right"/>
    <mechanicalReduction>1</mechanicalReduction>
    <motorTorqueConstant>1</motorTorqueConstant>
  </transmission>
  <transmission name="wrist_pitch_trans_right" type="pr2_mechanism_model/SimpleTransmission">
    <actuator name="wrist_pitch_motor_right"/>
    <joint name="wrist_pitch_joint_right"/>
    <mechanicalReduction>1</mechanicalReduction>
    <motorTorqueConstant>1</motorTorqueConstant>
  </transmission>
  <transmission name="finger1_trans_right" type="pr2_mechanism_model/SimpleTransmission">
    <actuator name="finger1_motor_right"/>
    <joint name="finger1_joint_right"/>
    <mechanicalReduction>1</mechanicalReduction>
    <motorTorqueConstant>1</motorTorqueConstant>
  </transmission>
  <transmission name="finger2_trans_right" type="pr2_mechanism_model/SimpleTransmission">
    <actuator name="finger2_motor_right"/>
    <joint name="finger2_joint_right"/>
    <mechanicalReduction>1</mechanicalReduction>
    <motorTorqueConstant>1</motorTorqueConstant>
  </transmission>
  <transmission name="wheel_inner_trans_left_front" type="pr2_mechanism_model/SimpleTransmission">
    <actuator name="wheel_inner_motor_left_front"/>
    <joint name="wheel_inner_joint_left_front"/>
    <mechanicalReduction>1</mechanicalReduction>
    <motorTorqueConstant>1</motorTorqueConstant>
  </transmission>
  <transmission name="wheel_inner_trans_right_front" type="pr2_mechanism_model/SimpleTransmission">
    <actuator name="wheel_inner_motor_right_front"/>
    <joint name="wheel_inner_joint_right_front"/>
    <mechanicalReduction>1</mechanicalReduction>
    <motorTorqueConstant>1</motorTorqueConstant>
  </transmission>
  <transmission name="wheel_inner_trans_left_rear" type="pr2_mechanism_model/SimpleTransmission">
    <actuator name="wheel_inner_motor_left_rear"/>
    <joint name="wheel_inner_joint_left_rear"/>
    <mechanicalReduction>1</mechanicalReduction>
    <motorTorqueConstant>1</motorTorqueConstant>
  </transmission>
  <transmission name="wheel_inner_trans_right_rear" type="pr2_mechanism_model/SimpleTransmission">
    <actuator name="wheel_inner_motor_right_rear"/>
    <joint name="wheel_inner_joint_right_rear"/>
    <mechanicalReduction>1</mechanicalReduction>
    <motorTorqueConstant>1</motorTorqueConstant>
  </transmission>
  <transmission name="omniwheel_trans_left_front" type="pr2_mechanism_model/SimpleTransmission">
    <actuator name="omniwheel_motor_left_front"/>
    <joint name="omni_sphere1_joint_left_front"/>
    <mechanicalReduction>1</mechanicalReduction>
    <motorTorqueConstant>1</motorTorqueConstant>
  </transmission>
  <transmission name="omniwheel_trans_right_front" type="pr2_mechanism_model/SimpleTransmission">
    <actuator name="omniwheel_motor_right_front"/>
    <joint name="omni_sphere1_joint_right_front"/>
    <mechanicalReduction>1</mechanicalReduction>
    <motorTorqueConstant>1</motorTorqueConstant>
  </transmission>
  <transmission name="omniwheel_trans_left_rear" type="pr2_mechanism_model/SimpleTransmission">
    <actuator name="omniwheel_motor_left_rear"/>
    <joint name="omni_sphere1_joint_left_rear"/>
    <mechanicalReduction>1</mechanicalReduction>
    <motorTorqueConstant>1</motorTorqueConstant>
  </transmission>
  <transmission name="omniwheel_trans_right_rear" type="pr2_mechanism_model/SimpleTransmission">
    <actuator name="omniwheel_motor_right_rear"/>
    <joint name="omni_sphere1_joint_right_rear"/>
    <mechanicalReduction>1</mechanicalReduction>
    <motorTorqueConstant>1</motorTorqueConstant>
  </transmission>
  <transmission name="omniwheel_trans_left_front" type="pr2_mechanism_model/SimpleTransmission">
    <actuator name="omniwheel_motor_left_front"/>
    <joint name="omni_sphere2_joint_left_front"/>
    <mechanicalReduction>1</mechanicalReduction>
    <motorTorqueConstant>1</motorTorqueConstant>
  </transmission>
  <transmission name="omniwheel_trans_right_front" type="pr2_mechanism_model/SimpleTransmission">
    <actuator name="omniwheel_motor_right_front"/>
    <joint name="omni_sphere2_joint_right_front"/>
    <mechanicalReduction>1</mechanicalReduction>
    <motorTorqueConstant>1</motorTorqueConstant>
  </transmission>
  <transmission name="omniwheel_trans_left_rear" type="pr2_mechanism_model/SimpleTransmission">
    <actuator name="omniwheel_motor_left_rear"/>
    <joint name="omni_sphere2_joint_left_rear"/>
    <mechanicalReduction>1</mechanicalReduction>
    <motorTorqueConstant>1</motorTorqueConstant>
  </transmission>
  <transmission name="omniwheel_trans_right_rear" type="pr2_mechanism_model/SimpleTransmission">
    <actuator name="omniwheel_motor_right_rear"/>
    <joint name="omni_sphere2_joint_right_rear"/>
    <mechanicalReduction>1</mechanicalReduction>
    <motorTorqueConstant>1</motorTorqueConstant>
  </transmission>
  <transmission name="omniwheel_trans_left_front" type="pr2_mechanism_model/SimpleTransmission">
    <actuator name="omniwheel_motor_left_front"/>
    <joint name="omni_sphere3_joint_left_front"/>
    <mechanicalReduction>1</mechanicalReduction>
    <motorTorqueConstant>1</motorTorqueConstant>
  </transmission>
  <transmission name="omniwheel_trans_right_front" type="pr2_mechanism_model/SimpleTransmission">
    <actuator name="omniwheel_motor_right_front"/>
    <joint name="omni_sphere3_joint_right_front"/>
    <mechanicalReduction>1</mechanicalReduction>
    <motorTorqueConstant>1</motorTorqueConstant>
  </transmission>
  <transmission name="omniwheel_trans_left_rear" type="pr2_mechanism_model/SimpleTransmission">
    <actuator name="omniwheel_motor_left_rear"/>
    <joint name="omni_sphere3_joint_left_rear"/>
    <mechanicalReduction>1</mechanicalReduction>
    <motorTorqueConstant>1</motorTorqueConstant>
  </transmission>
  <transmission name="omniwheel_trans_right_rear" type="pr2_mechanism_model/SimpleTransmission">
    <actuator name="omniwheel_motor_right_rear"/>
    <joint name="omni_sphere3_joint_right_rear"/>
    <mechanicalReduction>1</mechanicalReduction>
    <motorTorqueConstant>1</motorTorqueConstant>
  </transmission>
  <transmission name="omniwheel_trans_left_front" type="pr2_mechanism_model/SimpleTransmission">
    <actuator name="omniwheel_motor_left_front"/>
    <joint name="omni_sphere4_joint_left_front"/>
    <mechanicalReduction>1</mechanicalReduction>
    <motorTorqueConstant>1</motorTorqueConstant>
  </transmission>
  <transmission name="omniwheel_trans_right_front" type="pr2_mechanism_model/SimpleTransmission">
    <actuator name="omniwheel_motor_right_front"/>
    <joint name="omni_sphere4_joint_right_front"/>
    <mechanicalReduction>1</mechanicalReduction>
    <motorTorqueConstant>1</motorTorqueConstant>
  </transmission>
  <transmission name="omniwheel_trans_left_rear" type="pr2_mechanism_model/SimpleTransmission">
    <actuator name="omniwheel_motor_left_rear"/>
    <joint name="omni_sphere4_joint_left_rear"/>
    <mechanicalReduction>1</mechanicalReduction>
    <motorTorqueConstant>1</motorTorqueConstant>
  </transmission>
  <transmission name="omniwheel_trans_right_rear" type="pr2_mechanism_model/SimpleTransmission">
    <actuator name="omniwheel_motor_right_rear"/>
    <joint name="omni_sphere4_joint_right_rear"/>
    <mechanicalReduction>1</mechanicalReduction>
    <motorTorqueConstant>1</motorTorqueConstant>
  </transmission>
  <transmission name="omniwheel_trans_left_front" type="pr2_mechanism_model/SimpleTransmission">
    <actuator name="omniwheel_motor_left_front"/>
    <joint name="omni_sphere5_joint_left_front"/>
    <mechanicalReduction>1</mechanicalReduction>
    <motorTorqueConstant>1</motorTorqueConstant>
  </transmission>
  <transmission name="omniwheel_trans_right_front" type="pr2_mechanism_model/SimpleTransmission">
    <actuator name="omniwheel_motor_right_front"/>
    <joint name="omni_sphere5_joint_right_front"/>
    <mechanicalReduction>1</mechanicalReduction>
    <motorTorqueConstant>1</motorTorqueConstant>
  </transmission>
  <transmission name="omniwheel_trans_left_rear" type="pr2_mechanism_model/SimpleTransmission">
    <actuator name="omniwheel_motor_left_rear"/>
    <joint name="omni_sphere5_joint_left_rear"/>
    <mechanicalReduction>1</mechanicalReduction>
    <motorTorqueConstant>1</motorTorqueConstant>
  </transmission>
  <transmission name="omniwheel_trans_right_rear" type="pr2_mechanism_model/SimpleTransmission">
    <actuator name="omniwheel_motor_right_rear"/>
    <joint name="omni_sphere5_joint_right_rear"/>
    <mechanicalReduction>1</mechanicalReduction>
    <motorTorqueConstant>1</motorTorqueConstant>
  </transmission>
  <transmission name="omniwheel_trans_left_front" type="pr2_mechanism_model/SimpleTransmission">
    <actuator name="omniwheel_motor_left_front"/>
    <joint name="omni_sphere6_joint_left_front"/>
    <mechanicalReduction>1</mechanicalReduction>
    <motorTorqueConstant>1</motorTorqueConstant>
  </transmission>
  <transmission name="omniwheel_trans_right_front" type="pr2_mechanism_model/SimpleTransmission">
    <actuator name="omniwheel_motor_right_front"/>
    <joint name="omni_sphere6_joint_right_front"/>
    <mechanicalReduction>1</mechanicalReduction>
    <motorTorqueConstant>1</motorTorqueConstant>
  </transmission>
  <transmission name="omniwheel_trans_left_rear" type="pr2_mechanism_model/SimpleTransmission">
    <actuator name="omniwheel_motor_left_rear"/>
    <joint name="omni_sphere6_joint_left_rear"/>
    <mechanicalReduction>1</mechanicalReduction>
    <motorTorqueConstant>1</motorTorqueConstant>
  </transmission>
  <transmission name="omniwheel_trans_right_rear" type="pr2_mechanism_model/SimpleTransmission">
    <actuator name="omniwheel_motor_right_rear"/>
    <joint name="omni_sphere6_joint_right_rear"/>
    <mechanicalReduction>1</mechanicalReduction>
    <motorTorqueConstant>1</motorTorqueConstant>
  </transmission>
  <transmission name="omniwheel_trans_left_front" type="pr2_mechanism_model/SimpleTransmission">
    <actuator name="omniwheel_motor_left_front"/>
    <joint name="omni_sphere7_joint_left_front"/>
    <mechanicalReduction>1</mechanicalReduction>
    <motorTorqueConstant>1</motorTorqueConstant>
  </transmission>
  <transmission name="omniwheel_trans_right_front" type="pr2_mechanism_model/SimpleTransmission">
    <actuator name="omniwheel_motor_right_front"/>
    <joint name="omni_sphere7_joint_right_front"/>
    <mechanicalReduction>1</mechanicalReduction>
    <motorTorqueConstant>1</motorTorqueConstant>
  </transmission>
  <transmission name="omniwheel_trans_left_rear" type="pr2_mechanism_model/SimpleTransmission">
    <actuator name="omniwheel_motor_left_rear"/>
    <joint name="omni_sphere7_joint_left_rear"/>
    <mechanicalReduction>1</mechanicalReduction>
    <motorTorqueConstant>1</motorTorqueConstant>
  </transmission>
  <transmission name="omniwheel_trans_right_rear" type="pr2_mechanism_model/SimpleTransmission">
    <actuator name="omniwheel_motor_right_rear"/>
    <joint name="omni_sphere7_joint_right_rear"/>
    <mechanicalReduction>1</mechanicalReduction>
    <motorTorqueConstant>1</motorTorqueConstant>
  </transmission>
  <transmission name="omniwheel_trans_left_front" type="pr2_mechanism_model/SimpleTransmission">
    <actuator name="omniwheel_motor_left_front"/>
    <joint name="omni_sphere8_joint_left_front"/>
    <mechanicalReduction>1</mechanicalReduction>
    <motorTorqueConstant>1</motorTorqueConstant>
  </transmission>
  <transmission name="omniwheel_trans_right_front" type="pr2_mechanism_model/SimpleTransmission">
    <actuator name="omniwheel_motor_right_front"/>
    <joint name="omni_sphere8_joint_right_front"/>
    <mechanicalReduction>1</mechanicalReduction>
    <motorTorqueConstant>1</motorTorqueConstant>
  </transmission>
  <transmission name="omniwheel_trans_left_rear" type="pr2_mechanism_model/SimpleTransmission">
    <actuator name="omniwheel_motor_left_rear"/>
    <joint name="omni_sphere8_joint_left_rear"/>
    <mechanicalReduction>1</mechanicalReduction>
    <motorTorqueConstant>1</motorTorqueConstant>
  </transmission>
  <transmission name="omniwheel_trans_right_rear" type="pr2_mechanism_model/SimpleTransmission">
    <actuator name="omniwheel_motor_right_rear"/>
    <joint name="omni_sphere8_joint_right_rear"/>
    <mechanicalReduction>1</mechanicalReduction>
    <motorTorqueConstant>1</motorTorqueConstant>
  </transmission>
  <transmission name="omniwheel_trans_left_front" type="pr2_mechanism_model/SimpleTransmission">
    <actuator name="omniwheel_motor_left_front"/>
    <joint name="omni_sphere9_joint_left_front"/>
    <mechanicalReduction>1</mechanicalReduction>
    <motorTorqueConstant>1</motorTorqueConstant>
  </transmission>
  <transmission name="omniwheel_trans_right_front" type="pr2_mechanism_model/SimpleTransmission">
    <actuator name="omniwheel_motor_right_front"/>
    <joint name="omni_sphere9_joint_right_front"/>
    <mechanicalReduction>1</mechanicalReduction>
    <motorTorqueConstant>1</motorTorqueConstant>
  </transmission>
  <transmission name="omniwheel_trans_left_rear" type="pr2_mechanism_model/SimpleTransmission">
    <actuator name="omniwheel_motor_left_rear"/>
    <joint name="omni_sphere9_joint_left_rear"/>
    <mechanicalReduction>1</mechanicalReduction>
    <motorTorqueConstant>1</motorTorqueConstant>
  </transmission>
  <transmission name="omniwheel_trans_right_rear" type="pr2_mechanism_model/SimpleTransmission">
    <actuator name="omniwheel_motor_right_rear"/>
    <joint name="omni_sphere9_joint_right_rear"/>
    <mechanicalReduction>1</mechanicalReduction>
    <motorTorqueConstant>1</motorTorqueConstant>
  </transmission>
  <transmission name="omniwheel_trans_left_front" type="pr2_mechanism_model/SimpleTransmission">
    <actuator name="omniwheel_motor_left_front"/>
    <joint name="omni_sphere10_joint_left_front"/>
    <mechanicalReduction>1</mechanicalReduction>
    <motorTorqueConstant>1</motorTorqueConstant>
  </transmission>
  <transmission name="omniwheel_trans_right_front" type="pr2_mechanism_model/SimpleTransmission">
    <actuator name="omniwheel_motor_right_front"/>
    <joint name="omni_sphere10_joint_right_front"/>
    <mechanicalReduction>1</mechanicalReduction>
    <motorTorqueConstant>1</motorTorqueConstant>
  </transmission>
  <transmission name="omniwheel_trans_left_rear" type="pr2_mechanism_model/SimpleTransmission">
    <actuator name="omniwheel_motor_left_rear"/>
    <joint name="omni_sphere10_joint_left_rear"/>
    <mechanicalReduction>1</mechanicalReduction>
    <motorTorqueConstant>1</motorTorqueConstant>
  </transmission>
  <transmission name="omniwheel_trans_right_rear" type="pr2_mechanism_model/SimpleTransmission">
    <actuator name="omniwheel_motor_right_rear"/>
    <joint name="omni_sphere10_joint_right_rear"/>
    <mechanicalReduction>1</mechanicalReduction>
    <motorTorqueConstant>1</motorTorqueConstant>
  </transmission>
  <transmission name="omniwheel_trans_left_front" type="pr2_mechanism_model/SimpleTransmission">
    <actuator name="omniwheel_motor_left_front"/>
    <joint name="omni_sphere11_joint_left_front"/>
    <mechanicalReduction>1</mechanicalReduction>
    <motorTorqueConstant>1</motorTorqueConstant>
  </transmission>
  <transmission name="omniwheel_trans_right_front" type="pr2_mechanism_model/SimpleTransmission">
    <actuator name="omniwheel_motor_right_front"/>
    <joint name="omni_sphere11_joint_right_front"/>
    <mechanicalReduction>1</mechanicalReduction>
    <motorTorqueConstant>1</motorTorqueConstant>
  </transmission>
  <transmission name="omniwheel_trans_left_rear" type="pr2_mechanism_model/SimpleTransmission">
    <actuator name="omniwheel_motor_left_rear"/>
    <joint name="omni_sphere11_joint_left_rear"/>
    <mechanicalReduction>1</mechanicalReduction>
    <motorTorqueConstant>1</motorTorqueConstant>
  </transmission>
  <transmission name="omniwheel_trans_right_rear" type="pr2_mechanism_model/SimpleTransmission">
    <actuator name="omniwheel_motor_right_rear"/>
    <joint name="omni_sphere11_joint_right_rear"/>
    <mechanicalReduction>1</mechanicalReduction>
    <motorTorqueConstant>1</motorTorqueConstant>
  </transmission>
  <transmission name="omniwheel_trans_left_front" type="pr2_mechanism_model/SimpleTransmission">
    <actuator name="omniwheel_motor_left_front"/>
    <joint name="omni_sphere12_joint_left_front"/>
    <mechanicalReduction>1</mechanicalReduction>
    <motorTorqueConstant>1</motorTorqueConstant>
  </transmission>
  <transmission name="omniwheel_trans_right_front" type="pr2_mechanism_model/SimpleTransmission">
    <actuator name="omniwheel_motor_right_front"/>
    <joint name="omni_sphere12_joint_right_front"/>
    <mechanicalReduction>1</mechanicalReduction>
    <motorTorqueConstant>1</motorTorqueConstant>
  </transmission>
  <transmission name="omniwheel_trans_left_rear" type="pr2_mechanism_model/SimpleTransmission">
    <actuator name="omniwheel_motor_left_rear"/>
    <joint name="omni_sphere12_joint_left_rear"/>
    <mechanicalReduction>1</mechanicalReduction>
    <motorTorqueConstant>1</motorTorqueConstant>
  </transmission>
  <transmission name="omniwheel_trans_right_rear" type="pr2_mechanism_model/SimpleTransmission">
    <actuator name="omniwheel_motor_right_rear"/>
    <joint name="omni_sphere12_joint_right_rear"/>
    <mechanicalReduction>1</mechanicalReduction>
    <motorTorqueConstant>1</motorTorqueConstant>
  </transmission>
  <transmission name="neck_trans" type="pr2_mechanism_model/SimpleTransmission">
    <actuator name="neck_motor"/>
    <joint name="neck_pan_joint"/>
    <mechanicalReduction>1</mechanicalReduction>
    <motorTorqueConstant>1</motorTorqueConstant>
  </transmission>
  <transmission name="head_trans" type="pr2_mechanism_model/SimpleTransmission">
    <actuator name="head_motor"/>
    <joint name="neck_tilt_joint"/>
    <mechanicalReduction>1</mechanicalReduction>
    <motorTorqueConstant>1</motorTorqueConstant>
  </transmission>
</robot>
